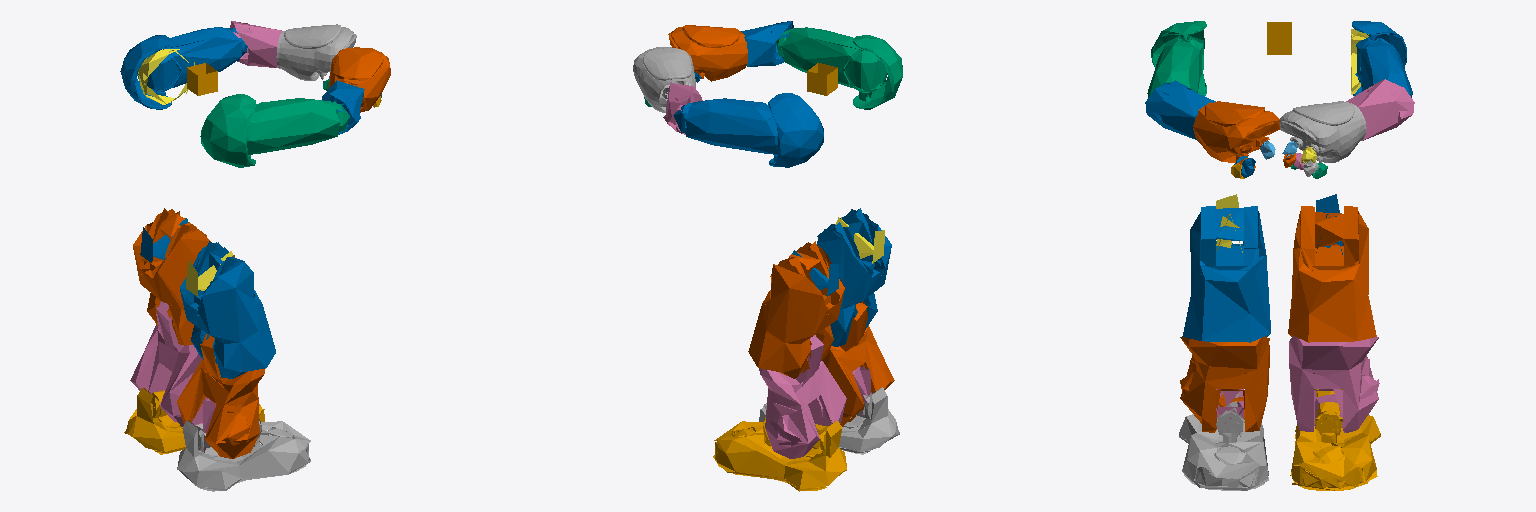
--- Facts derived from the render (not from the file) ---
Views: 3 orthographic renders of the robot side by side, from view 1: azimuth 30°, elevation 25°; view 2: azimuth 150°, elevation 25°; view 3: azimuth 270°, elevation 25°.
Robot: NaoH25V50 — 79 links, 78 joints (26 revolute, 16 continuous, 36 fixed); root link base_link; default pose: all joints at 0 but 2 set to mid-range because 0 is outside their limits (LElbowRoll = -0.7898, RElbowRoll = 0.7898).
Links seen in each view (by area): view 1: RThigh, RBicep, r_ankle, RTibia, LBicep, LThigh, LTibia, l_wrist, l_ankle, r_wrist, LForeArm, RForeArm (+4 smaller); view 2: LThigh, LBicep, RBicep, LTibia, l_ankle, RThigh, RTibia, r_wrist, l_wrist, r_ankle, RForeArm, LForeArm (+3 smaller); view 3: LThigh, RThigh, LTibia, RTibia, l_ankle, r_ankle, r_wrist, l_wrist, RBicep, LBicep, LForeArm, RForeArm (+1 smaller).
Boxes of the visible links, <box> form: RThigh: <box>180,241,275,378</box>; RBicep: <box>200,94,349,167</box>; r_ankle: <box>177,419,310,491</box>; RTibia: <box>177,334,265,458</box>; LBicep: <box>120,27,247,109</box>; LThigh: <box>133,208,210,345</box>; LTibia: <box>130,301,201,426</box>; l_wrist: <box>276,24,356,80</box>; l_ankle: <box>124,388,264,454</box>; r_wrist: <box>329,47,390,112</box>; LForeArm: <box>230,21,281,67</box>; RForeArm: <box>322,80,364,134</box>; LThigh: <box>748,241,844,378</box>; LBicep: <box>673,93,823,167</box>; RBicep: <box>776,27,902,109</box>; LTibia: <box>759,335,846,458</box>; l_ankle: <box>713,417,846,491</box>; RThigh: <box>817,208,891,346</box>; RTibia: <box>822,301,894,426</box>; r_wrist: <box>668,25,747,81</box>; l_wrist: <box>633,47,695,112</box>; r_ankle: <box>759,387,899,454</box>; RForeArm: <box>741,21,793,66</box>; LForeArm: <box>663,83,702,134</box>; LThigh: <box>1288,206,1376,342</box>; RThigh: <box>1182,206,1270,342</box>; LTibia: <box>1289,336,1379,432</box>; RTibia: <box>1180,336,1269,432</box>; l_ankle: <box>1290,389,1380,490</box>; r_ankle: <box>1179,392,1268,490</box>; r_wrist: <box>1193,101,1279,162</box>; l_wrist: <box>1279,101,1366,162</box>; RBicep: <box>1147,21,1206,97</box>; LBicep: <box>1352,21,1412,97</box>; LForeArm: <box>1346,79,1414,140</box>; RForeArm: <box>1145,80,1215,140</box>.
Bounding box of the posed robot: 0.28 × 0.273 × 0.4751 m (x, y, z).
Meshes: 39 distinct files referenced, 29 mesh visuals loaded (29 binary STL); not drawn: 10 (reference not matched to a file when rendering).

The robot description file, URDF, robot "NaoH25V50":
<?xml version="1.0" ?>
<!-- =================================================================================== -->
<!-- |    This document was autogenerated by xacro from nao_robot.xacro                | -->
<!-- |    EDITING THIS FILE BY HAND IS NOT RECOMMENDED                                 | -->
<!-- =================================================================================== -->
<!--******************************************************************
 ****** File automatically generated by generate_urdf.py script ******
 *********************************************************************-->
<robot name="NaoH25V50" xmlns:xacro="http://www.ros.org/wiki/xacro">
  <joint name="HeadYaw" type="revolute">
    <parent link="torso"/>
    <child link="Neck"/>
    <origin rpy="0 0 0" xyz="0 0 0.1265"/>
    <axis xyz="0 0 1.0"/>
    <limit effort="1.547" lower="-2.08567" upper="2.08567" velocity="8.26797"/>
  </joint>
  <link name="Neck">
    <inertial>
      <mass value="0.07842"/>
      <inertia ixx="1.60324e-05" ixy="1.57e-09" ixz="3.16276e-09" iyy="1.70394e-05" iyz="-5.295e-08" izz="5.53372e-06"/>
      <origin rpy="0 0 0" xyz="-1e-05 0 -0.02742"/>
    </inertial>
    <visual>
      <geometry>
        <mesh filename="package://nao_meshes/meshes/V40/HeadYaw_0.10.stl" scale="0.01 0.01 0.01"/>
      </geometry>
      <origin rpy="0 0 0" xyz="0 0 0"/>
    </visual>
    <collision>
      <geometry>
        <mesh filename="package://nao_meshes/meshes/V40/HeadYaw_0.10.stl" scale="0.01 0.01 0.01"/>
      </geometry>
      <origin rpy="0 0 0" xyz="0 0 0"/>
    </collision>
  </link>
  <joint name="HeadPitch" type="revolute">
    <parent link="Neck"/>
    <child link="Head"/>
    <origin rpy="0 0 0" xyz="0 0 0"/>
    <axis xyz="0 1.0 0"/>
    <limit effort="1.532" lower="-0.671952" upper="0.514872" velocity="7.19407"/>
  </joint>
  <link name="Head">
    <inertial>
      <mass value="0.60533"/>
      <inertia ixx="0.000957766" ixy="8.78814e-06" ixz="5.33702e-06" iyy="0.000816836" iyz="-2.99579e-05" izz="0.000984976"/>
      <origin rpy="0 0 0" xyz="-0.00112 0 0.05258"/>
    </inertial>
    <visual>
      <geometry>
        <mesh filename="package://nao_meshes/meshes/V40/HeadPitch_0.10.stl" scale="0.01 0.01 0.01"/>
      </geometry>
      <origin rpy="0 0 0" xyz="0 0 0"/>
    </visual>
    <collision>
      <geometry>
        <mesh filename="package://nao_meshes/meshes/V40/HeadPitch_0.10.stl" scale="0.01 0.01 0.01"/>
      </geometry>
      <origin rpy="0 0 0" xyz="0 0 0"/>
    </collision>
  </link>
  <joint name="gaze_joint" type="fixed">
    <parent link="Head"/>
    <child link="gaze"/>
    <origin rpy="0 0 0" xyz="0.05871 0 0.06364"/>
  </joint>
  <link name="gaze"/>
  <joint name="LHipYawPitch" type="revolute">
    <parent link="torso"/>
    <child link="LPelvis"/>
    <origin rpy="0 0 0" xyz="0 0.05 -0.085"/>
    <axis xyz="0 0.707106 -0.707106"/>
    <limit effort="3.348" lower="-1.14529" upper="0.740718" velocity="4.16174"/>
  </joint>
  <link name="LPelvis">
    <inertial>
      <mass value="0.06981"/>
      <inertia ixx="2.3407e-05" ixy="1.07922e-06" ixz="-1.76003e-06" iyy="4.76355e-05" iyz="2.76058e-06" izz="4.97021e-05"/>
      <origin rpy="0 0 0" xyz="-0.00781 -0.01114 0.02661"/>
    </inertial>
    <visual>
      <geometry>
        <mesh filename="package://nao_meshes/meshes/V40/LHipYawPitch_0.10.stl" scale="0.01 0.01 0.01"/>
      </geometry>
      <origin rpy="0 0 0" xyz="0 0 0"/>
    </visual>
    <collision>
      <geometry>
        <mesh filename="package://nao_meshes/meshes/V40/LHipYawPitch_0.10.stl" scale="0.01 0.01 0.01"/>
      </geometry>
      <origin rpy="0 0 0" xyz="0 0 0"/>
    </collision>
  </link>
  <joint name="LHipRoll" type="revolute">
    <parent link="LPelvis"/>
    <child link="LHip"/>
    <origin rpy="0 0 0" xyz="0 0 0"/>
    <axis xyz="1.0 0 0"/>
    <limit effort="3.348" lower="-0.379435" upper="0.79046" velocity="4.16174"/>
  </joint>
  <link name="LHip">
    <inertial>
      <mass value="0.14053"/>
      <inertia ixx="2.38445e-05" ixy="-6.53605e-07" ixz="7.12893e-06" iyy="6.08246e-05" iyz="-2.14072e-07" izz="5.43691e-05"/>
      <origin rpy="0 0 0" xyz="-0.01549 0.00029 -0.00515"/>
    </inertial>
    <visual>
      <geometry>
        <mesh filename="package://nao_meshes/meshes/V40/LHipRoll_0.10.stl" scale="0.01 0.01 0.01"/>
      </geometry>
      <origin rpy="0 0 0" xyz="0 0 0"/>
    </visual>
    <collision>
      <geometry>
        <mesh filename="package://nao_meshes/meshes/V40/LHipRoll_0.10.stl" scale="0.01 0.01 0.01"/>
      </geometry>
      <origin rpy="0 0 0" xyz="0 0 0"/>
    </collision>
  </link>
  <joint name="LHipPitch" type="revolute">
    <parent link="LHip"/>
    <child link="LThigh"/>
    <origin rpy="0 0 0" xyz="0 0 0"/>
    <axis xyz="0 1.0 0"/>
    <limit effort="3.023" lower="-1.53589" upper="0.48398" velocity="6.40239"/>
  </joint>
  <link name="LThigh">
    <inertial>
      <mass value="0.38968"/>
      <inertia ixx="0.000509844" ixy="2.11296e-06" ixz="5.64129e-05" iyy="0.000465358" iyz="-7.91029e-06" izz="0.000301098"/>
      <origin rpy="0 0 0" xyz="0.00138 0.00221 -0.05373"/>
    </inertial>
    <visual>
      <geometry>
        <mesh filename="package://nao_meshes/meshes/V40/LHipPitch_0.10.stl" scale="0.01 0.01 0.01"/>
      </geometry>
      <origin rpy="0 0 0" xyz="0 0 0"/>
    </visual>
    <collision>
      <geometry>
        <mesh filename="package://nao_meshes/meshes/V40/LHipPitch_0.10.stl" scale="0.01 0.01 0.01"/>
      </geometry>
      <origin rpy="0 0 0" xyz="0 0 0"/>
    </collision>
  </link>
  <joint name="LKneePitch" type="revolute">
    <parent link="LThigh"/>
    <child link="LTibia"/>
    <origin rpy="0 0 0" xyz="0 0 -0.1"/>
    <axis xyz="0 1.0 0"/>
    <limit effort="3.023" lower="-0.0923279" upper="2.11255" velocity="6.40239"/>
  </joint>
  <link name="LTibia">
    <inertial>
      <mass value="0.30142"/>
      <inertia ixx="0.000446171" ixy="3.70584e-06" ixz="-3.09008e-05" iyy="0.000388084" iyz="6.01953e-06" izz="0.000185516"/>
      <origin rpy="0 0 0" xyz="0.00453 0.00225 -0.04936"/>
    </inertial>
    <visual>
      <geometry>
        <mesh filename="package://nao_meshes/meshes/V40/LKneePitch_0.10.stl" scale="0.01 0.01 0.01"/>
      </geometry>
      <origin rpy="0 0 0" xyz="0 0 0"/>
    </visual>
    <collision>
      <geometry>
        <mesh filename="package://nao_meshes/meshes/V40/LKneePitch_0.10.stl" scale="0.01 0.01 0.01"/>
      </geometry>
      <origin rpy="0 0 0" xyz="0 0 0"/>
    </collision>
  </link>
  <joint name="LAnklePitch" type="revolute">
    <parent link="LTibia"/>
    <child link="LAnklePitch"/>
    <origin rpy="0 0 0" xyz="0 0 -0.1029"/>
    <axis xyz="0 1.0 0"/>
    <limit effort="3.023" lower="-1.18944" upper="0.922581" velocity="6.40239"/>
  </joint>
  <link name="LAnklePitch">
    <inertial>
      <mass value="0.13416"/>
      <inertia ixx="3.22034e-05" ixy="-8.83212e-09" ixz="4.27549e-06" iyy="6.7943e-05" iyz="2.84849e-07" izz="5.48269e-05"/>
      <origin rpy="0 0 0" xyz="0.00045 0.00029 0.00685"/>
    </inertial>
    <visual>
      <geometry>
        <mesh filename="package://nao_meshes/meshes/V40/LAnklePitch_0.10.stl" scale="0.01 0.01 0.01"/>
      </geometry>
      <origin rpy="0 0 0" xyz="0 0 0"/>
    </visual>
    <collision>
      <geometry>
        <mesh filename="package://nao_meshes/meshes/V40/LAnklePitch_0.10.stl" scale="0.01 0.01 0.01"/>
      </geometry>
      <origin rpy="0 0 0" xyz="0 0 0"/>
    </collision>
  </link>
  <joint name="LAnkleRoll" type="revolute">
    <parent link="LAnklePitch"/>
    <child link="l_ankle"/>
    <origin rpy="0 0 0" xyz="0 0 0"/>
    <axis xyz="1.0 0 0"/>
    <limit effort="3.348" lower="-0.397761" upper="0.768992" velocity="4.16174"/>
  </joint>
  <link name="l_ankle">
    <inertial>
      <mass value="0.17184"/>
      <inertia ixx="8.72911e-05" ixy="8.71925e-06" ixz="-2.10563e-06" iyy="0.000353024" iyz="3.73459e-07" izz="0.000412846"/>
      <origin rpy="0 0 0" xyz="0.02542 0.0033 -0.03239"/>
    </inertial>
    <visual>
      <geometry>
        <mesh filename="package://nao_meshes/meshes/V40/LAnkleRoll_0.10.stl" scale="0.01 0.01 0.01"/>
      </geometry>
      <origin rpy="0 0 0" xyz="0 0 0"/>
    </visual>
    <collision>
      <geometry>
        <mesh filename="package://nao_meshes/meshes/V40/LAnkleRoll_0.10.stl" scale="0.01 0.01 0.01"/>
      </geometry>
      <origin rpy="0 0 0" xyz="0 0 0"/>
    </collision>
  </link>
  <joint name="LLeg_effector_fixedjoint" type="fixed">
    <parent link="l_ankle"/>
    <child link="l_sole"/>
    <origin rpy="0 0 0" xyz="0 0 -0.04511"/>
    <axis xyz="0 0 0"/>
  </joint>
  <link name="l_sole"/>
  <joint name="RHipYawPitch" type="revolute">
    <parent link="torso"/>
    <child link="RPelvis"/>
    <origin rpy="0 0 0" xyz="0 -0.05 -0.085"/>
    <axis xyz="0 0.707106 0.707106"/>
    <limit effort="3.348" lower="-1.14529" upper="0.740718" velocity="4.16174"/>
    <mimic joint="LHipYawPitch" multiplier="1.0" offset="0"/>
  </joint>
  <link name="RPelvis">
    <inertial>
      <mass value="0.06981"/>
      <inertia ixx="3.18766e-05" ixy="-1.07152e-06" ixz="-1.77295e-06" iyy="5.18361e-05" iyz="-7.00664e-06" izz="5.39657e-05"/>
      <origin rpy="0 0 0" xyz="-0.00781 0.01114 0.02661"/>
    </inertial>
    <visual>
      <geometry>
        <mesh filename="package://nao_meshes/meshes/V40/RHipYawPitch_0.10.stl" scale="0.01 0.01 0.01"/>
      </geometry>
      <origin rpy="0 0 0" xyz="0 0 0"/>
    </visual>
    <collision>
      <geometry>
        <mesh filename="package://nao_meshes/meshes/V40/RHipYawPitch_0.10.stl" scale="0.01 0.01 0.01"/>
      </geometry>
      <origin rpy="0 0 0" xyz="0 0 0"/>
    </collision>
  </link>
  <joint name="RHipRoll" type="revolute">
    <parent link="RPelvis"/>
    <child link="RHip"/>
    <origin rpy="0 0 0" xyz="0 0 0"/>
    <axis xyz="1.0 0 0"/>
    <limit effort="3.348" lower="-0.79046" upper="0.379435" velocity="4.16174"/>
  </joint>
  <link name="RHip">
    <inertial>
      <mass value="0.14053"/>
      <inertia ixx="2.38475e-05" ixy="6.12085e-07" ixz="7.10235e-06" iyy="6.0824e-05" iyz="2.12392e-07" izz="5.43727e-05"/>
      <origin rpy="0 0 0" xyz="-0.01549 -0.00029 -0.00515"/>
    </inertial>
    <visual>
      <geometry>
        <mesh filename="package://nao_meshes/meshes/V40/RHipRoll_0.10.stl" scale="0.01 0.01 0.01"/>
      </geometry>
      <origin rpy="0 0 0" xyz="0 0 0"/>
    </visual>
    <collision>
      <geometry>
        <mesh filename="package://nao_meshes/meshes/V40/RHipRoll_0.10.stl" scale="0.01 0.01 0.01"/>
      </geometry>
      <origin rpy="0 0 0" xyz="0 0 0"/>
    </collision>
  </link>
  <joint name="RHipPitch" type="revolute">
    <parent link="RHip"/>
    <child link="RThigh"/>
    <origin rpy="0 0 0" xyz="0 0 0"/>
    <axis xyz="0 1.0 0"/>
    <limit effort="3.0226" lower="-1.53589" upper="0.48398" velocity="6.40239"/>
  </joint>
  <link name="RThigh">
    <inertial>
      <mass value="0.38968"/>
      <inertia ixx="0.000510607" ixy="-2.02799e-06" ixz="5.69893e-05" iyy="0.0004665" iyz="7.09563e-06" izz="0.000301333"/>
      <origin rpy="0 0 0" xyz="0.00138 -0.00221 -0.05373"/>
    </inertial>
    <visual>
      <geometry>
        <mesh filename="package://nao_meshes/meshes/V40/RHipPitch_0.10.stl" scale="0.01 0.01 0.01"/>
      </geometry>
      <origin rpy="0 0 0" xyz="0 0 0"/>
    </visual>
    <collision>
      <geometry>
        <mesh filename="package://nao_meshes/meshes/V40/RHipPitch_0.10.stl" scale="0.01 0.01 0.01"/>
      </geometry>
      <origin rpy="0 0 0" xyz="0 0 0"/>
    </collision>
  </link>
  <joint name="RKneePitch" type="revolute">
    <parent link="RThigh"/>
    <child link="RTibia"/>
    <origin rpy="0 0 0" xyz="0 0 -0.1"/>
    <axis xyz="0 1.0 0"/>
    <limit effort="3.0226" lower="-0.0923279" upper="2.11255" velocity="6.40239"/>
  </joint>
  <link name="RTibia">
    <inertial>
      <mass value="0.30142"/>
      <inertia ixx="0.000446921" ixy="-3.96872e-06" ixz="-3.94009e-05" iyy="0.000387711" iyz="-5.00034e-06" izz="0.000183741"/>
      <origin rpy="0 0 0" xyz="0.00453 -0.00225 -0.04936"/>
    </inertial>
    <visual>
      <geometry>
        <mesh filename="package://nao_meshes/meshes/V40/RKneePitch_0.10.stl" scale="0.01 0.01 0.01"/>
      </geometry>
      <origin rpy="0 0 0" xyz="0 0 0"/>
    </visual>
    <collision>
      <geometry>
        <mesh filename="package://nao_meshes/meshes/V40/RKneePitch_0.10.stl" scale="0.01 0.01 0.01"/>
      </geometry>
      <origin rpy="0 0 0" xyz="0 0 0"/>
    </collision>
  </link>
  <joint name="RAnklePitch" type="revolute">
    <parent link="RTibia"/>
    <child link="RAnklePitch"/>
    <origin rpy="0 0 0" xyz="0 0 -0.1029"/>
    <axis xyz="0 1.0 0"/>
    <limit effort="3.0226" lower="-1.1863" upper="0.932006" velocity="6.40239"/>
  </joint>
  <link name="RAnklePitch">
    <inertial>
      <mass value="0.13416"/>
      <inertia ixx="3.22017e-05" ixy="4.68321e-08" ixz="4.28821e-06" iyy="6.79885e-05" iyz="-2.71089e-07" izz="5.48747e-05"/>
      <origin rpy="0 0 0" xyz="0.00045 -0.00029 0.00685"/>
    </inertial>
    <visual>
      <geometry>
        <mesh filename="package://nao_meshes/meshes/V40/RAnklePitch_0.10.stl" scale="0.01 0.01 0.01"/>
      </geometry>
      <origin rpy="0 0 0" xyz="0 0 0"/>
    </visual>
    <collision>
      <geometry>
        <mesh filename="package://nao_meshes/meshes/V40/RAnklePitch_0.10.stl" scale="0.01 0.01 0.01"/>
      </geometry>
      <origin rpy="0 0 0" xyz="0 0 0"/>
    </collision>
  </link>
  <joint name="RAnkleRoll" type="revolute">
    <parent link="RAnklePitch"/>
    <child link="r_ankle"/>
    <origin rpy="0 0 0" xyz="0 0 0"/>
    <axis xyz="1.0 0 0"/>
    <limit effort="3.348" lower="-0.768992" upper="0.397761" velocity="4.16174"/>
  </joint>
  <link name="r_ankle">
    <inertial>
      <mass value="0.17184"/>
      <inertia ixx="8.71513e-05" ixy="-8.53992e-06" ixz="-2.35184e-06" iyy="0.000352156" iyz="-4.81708e-07" izz="0.000412125"/>
      <origin rpy="0 0 0" xyz="0.02542 -0.0033 -0.03239"/>
    </inertial>
    <visual>
      <geometry>
        <mesh filename="package://nao_meshes/meshes/V40/RAnkleRoll_0.10.stl" scale="0.01 0.01 0.01"/>
      </geometry>
      <origin rpy="0 0 0" xyz="0 0 0"/>
    </visual>
    <collision>
      <geometry>
        <mesh filename="package://nao_meshes/meshes/V40/RAnkleRoll_0.10.stl" scale="0.01 0.01 0.01"/>
      </geometry>
      <origin rpy="0 0 0" xyz="0 0 0"/>
    </collision>
  </link>
  <joint name="RLeg_effector_fixedjoint" type="fixed">
    <parent link="r_ankle"/>
    <child link="r_sole"/>
    <origin rpy="0 0 0" xyz="0 0 -0.04511"/>
    <axis xyz="0 0 0"/>
  </joint>
  <link name="r_sole"/>
  <link name="base_link"/>
  <joint name="base_link_fixedjoint" type="fixed">
    <parent link="base_link"/>
    <child link="torso"/>
    <origin rpy="0 0 0" xyz="0 0 0"/>
    <axis xyz="0 0 0"/>
  </joint>
  <link name="torso">
    <inertial>
      <mass value="1.04956"/>
      <inertia ixx="0.00308361" ixy="1.43116e-05" ixz="-3.30211e-05" iyy="0.0028835" iyz="-2.70793e-05" izz="0.0015924"/>
      <origin rpy="0 0 0" xyz="-0.00413 0 0.04342"/>
    </inertial>
    <visual>
      <geometry>
        <mesh filename="package://nao_meshes/meshes/V40/Torso_0.10.stl" scale="0.01 0.01 0.01"/>
      </geometry>
      <origin rpy="0 0 0" xyz="0 0 0"/>
    </visual>
    <collision>
      <geometry>
        <mesh filename="package://nao_meshes/meshes/V40/Torso_0.10.stl" scale="0.01 0.01 0.01"/>
      </geometry>
      <origin rpy="0 0 0" xyz="0 0 0"/>
    </collision>
  </link>
  <joint name="LShoulderPitch" type="revolute">
    <parent link="torso"/>
    <child link="LShoulder"/>
    <origin rpy="0 0 0" xyz="0 0.098 0.1"/>
    <axis xyz="0 1.0 0"/>
    <limit effort="1.329" lower="-2.08567" upper="2.08567" velocity="8.26797"/>
  </joint>
  <link name="LShoulder">
    <inertial>
      <mass value="0.09304"/>
      <inertia ixx="1.83025e-05" ixy="2.06011e-06" ixz="1.88776e-09" iyy="1.39005e-05" iyz="-3.66592e-07" izz="2.01862e-05"/>
      <origin rpy="0 0 0" xyz="-0.00165 -0.02663 0.00014"/>
    </inertial>
    <visual>
      <geometry>
        <mesh filename="package://nao_meshes/meshes/V40/LShoulderPitch_0.10.stl" scale="0.01 0.01 0.01"/>
      </geometry>
      <origin rpy="0 0 0" xyz="0 0 0"/>
    </visual>
    <collision>
      <geometry>
        <mesh filename="package://nao_meshes/meshes/V40/LShoulderPitch_0.10.stl" scale="0.01 0.01 0.01"/>
      </geometry>
      <origin rpy="0 0 0" xyz="0 0 0"/>
    </collision>
  </link>
  <joint name="LShoulderRoll" type="revolute">
    <parent link="LShoulder"/>
    <child link="LBicep"/>
    <origin rpy="0 0 0" xyz="0 0 0"/>
    <axis xyz="0 0 1.0"/>
    <limit effort="1.7835" lower="-0.314159" upper="1.32645" velocity="7.19407"/>
  </joint>
  <link name="LBicep">
    <inertial>
      <mass value="0.15777"/>
      <inertia ixx="8.7181e-05" ixy="-2.53381e-05" ixz="-1.4213e-05" iyy="0.000274712" iyz="4.71439e-07" izz="0.000241812"/>
      <origin rpy="0 0 0" xyz="0.02455 0.00563 0.0033"/>
    </inertial>
    <visual>
      <geometry>
        <mesh filename="package://nao_meshes/meshes/V40/LShoulderRoll_0.10.stl" scale="0.01 0.01 0.01"/>
      </geometry>
      <origin rpy="0 0 0" xyz="0 0 0"/>
    </visual>
    <collision>
      <geometry>
        <mesh filename="package://nao_meshes/meshes/V40/LShoulderRoll_0.10.stl" scale="0.01 0.01 0.01"/>
      </geometry>
      <origin rpy="0 0 0" xyz="0 0 0"/>
    </collision>
  </link>
  <joint name="LElbowYaw" type="revolute">
    <parent link="LBicep"/>
    <child link="LElbow"/>
    <origin rpy="0 0 0" xyz="0.105 0.015 0"/>
    <axis xyz="1.0 0 0"/>
    <limit effort="1.547" lower="-2.08567" upper="2.08567" velocity="8.26797"/>
  </joint>
  <link name="LElbow">
    <inertial>
      <mass value="0.06483"/>
      <inertia ixx="5.59588e-06" ixy="4.21e-09" ixz="2.92241e-07" iyy="2.66179e-05" iyz="-1.84e-09" izz="2.76294e-05"/>
      <origin rpy="0 0 0" xyz="-0.02744 0 -0.00014"/>
    </inertial>
  </link>
  <joint name="LElbowRoll" type="revolute">
    <parent link="LElbow"/>
    <child link="LForeArm"/>
    <origin rpy="0 0 0" xyz="0 0 0"/>
    <axis xyz="0 0 1.0"/>
    <limit effort="1.532" lower="-1.54462" upper="-0.0349066" velocity="7.19407"/>
  </joint>
  <link name="LForeArm">
    <inertial>
      <mass value="0.07761"/>
      <inertia ixx="2.46746e-05" ixy="3.23152e-06" ixz="1.58221e-06" iyy="3.83837e-05" iyz="1.39194e-07" izz="3.59708e-05"/>
      <origin rpy="0 0 0" xyz="0.02556 0.00281 0.00076"/>
    </inertial>
    <visual>
      <geometry>
        <mesh filename="package://nao_meshes/meshes/V40/LElbowRoll_0.10.stl" scale="0.01 0.01 0.01"/>
      </geometry>
      <origin rpy="0 0 0" xyz="0 0 0"/>
    </visual>
    <collision>
      <geometry>
        <mesh filename="package://nao_meshes/meshes/V40/LElbowRoll_0.10.stl" scale="0.01 0.01 0.01"/>
      </geometry>
      <origin rpy="0 0 0" xyz="0 0 0"/>
    </collision>
  </link>
  <joint name="LWristYaw" type="revolute">
    <parent link="LForeArm"/>
    <child link="l_wrist"/>
    <origin rpy="0 0 0" xyz="0.05595 0 0"/>
    <axis xyz="1.0 0 0"/>
    <limit effort="0.4075" lower="-1.82387" upper="1.82387" velocity="24.6229"/>
  </joint>
  <link name="l_wrist">
    <inertial>
      <mass value="0.18533"/>
      <inertia ixx="6.86477e-05" ixy="1.15465e-07" ixz="-2.87254e-06" iyy="0.000135756" iyz="2.67539e-06" izz="0.000133228"/>
      <origin rpy="0 0 0" xyz="0.03434 -0.00088 0.00308"/>
    </inertial>
    <visual>
      <geometry>
        <mesh filename="package://nao_meshes/meshes/V40/LWristYaw_0.10.stl" scale="0.01 0.01 0.01"/>
      </geometry>
      <origin rpy="0 0 0" xyz="0 0 0"/>
    </visual>
    <collision>
      <geometry>
        <mesh filename="package://nao_meshes/meshes/V40/LWristYaw_0.10.stl" scale="0.01 0.01 0.01"/>
      </geometry>
      <origin rpy="0 0 0" xyz="0 0 0"/>
    </collision>
  </link>
  <joint name="LHand" type="revolute">
    <parent link="l_wrist"/>
    <child link="l_gripper"/>
    <origin rpy="0 0 0" xyz="0.05775 0 -0.01231"/>
    <axis xyz="1.0 0 0"/>
    <limit effort="0.292" lower="0" upper="1.0" velocity="8.33"/>
  </joint>
  <link name="l_gripper">
    <inertial>
      <mass value="2e-06"/>
      <inertia ixx="1.1e-09" ixy="0" ixz="0" iyy="1.1e-09" iyz="0" izz="1.1e-09"/>
    </inertial>
  </link>
  <joint name="RShoulderPitch" type="revolute">
    <parent link="torso"/>
    <child link="RShoulder"/>
    <origin rpy="0 0 0" xyz="0 -0.098 0.1"/>
    <axis xyz="0 1.0 0"/>
    <limit effort="1.329" lower="-2.08567" upper="2.08567" velocity="8.26797"/>
  </joint>
  <link name="RShoulder">
    <inertial>
      <mass value="0.09304"/>
      <inertia ixx="1.83025e-05" ixy="-2.06011e-06" ixz="1.88776e-09" iyy="1.39005e-05" iyz="3.66592e-07" izz="2.01862e-05"/>
      <origin rpy="0 0 0" xyz="-0.00165 0.02663 0.00014"/>
    </inertial>
    <visual>
      <geometry>
        <mesh filename="package://nao_meshes/meshes/V40/RShoulderPitch_0.10.stl" scale="0.01 0.01 0.01"/>
      </geometry>
      <origin rpy="0 0 0" xyz="0 0 0"/>
    </visual>
    <collision>
      <geometry>
        <mesh filename="package://nao_meshes/meshes/V40/RShoulderPitch_0.10.stl" scale="0.01 0.01 0.01"/>
      </geometry>
      <origin rpy="0 0 0" xyz="0 0 0"/>
    </collision>
  </link>
  <joint name="RShoulderRoll" type="revolute">
    <parent link="RShoulder"/>
    <child link="RBicep"/>
    <origin rpy="0 0 0" xyz="0 0 0"/>
    <axis xyz="0 0 1.0"/>
    <limit effort="1.783" lower="-1.32645" upper="0.314159" velocity="7.19407"/>
  </joint>
  <link name="RBicep">
    <inertial>
      <mass value="0.15777"/>
      <inertia ixx="0.000103401" ixy="5.48849e-05" ixz="-1.32643e-05" iyy="0.00027077" iyz="9.16707e-06" izz="0.000254529"/>
      <origin rpy="0 0 0" xyz="0.02455 -0.00563 0.0033"/>
    </inertial>
    <visual>
      <geometry>
        <mesh filename="package://nao_meshes/meshes/V40/RShoulderRoll_0.10.stl" scale="0.01 0.01 0.01"/>
      </geometry>
      <origin rpy="0 0 0" xyz="0 0 0"/>
    </visual>
    <collision>
      <geometry>
        <mesh filename="package://nao_meshes/meshes/V40/RShoulderRoll_0.10.stl" scale="0.01 0.01 0.01"/>
      </geometry>
      <origin rpy="0 0 0" xyz="0 0 0"/>
    </collision>
  </link>
  <joint name="RElbowYaw" type="revolute">
    <parent link="RBicep"/>
    <child link="RElbow"/>
    <origin rpy="0 0 0" xyz="0.105 -0.015 0"/>
    <axis xyz="1.0 0 0"/>
    <limit effort="1.547" lower="-2.08567" upper="2.08567" velocity="8.26797"/>
  </joint>
  <link name="RElbow">
    <inertial>
      <mass value="0.06483"/>
      <inertia ixx="5.59588e-06" ixy="4.21e-09" ixz="2.92241e-07" iyy="2.66179e-05" iyz="-1.84e-09" izz="2.76294e-05"/>
      <origin rpy="0 0 0" xyz="-0.02744 0 -0.00014"/>
    </inertial>
  </link>
  <joint name="RElbowRoll" type="revolute">
    <parent link="RElbow"/>
    <child link="RForeArm"/>
    <origin rpy="0 0 0" xyz="0 0 0"/>
    <axis xyz="0 0 1.0"/>
    <limit effort="1.532" lower="0.0349066" upper="1.54462" velocity="7.19407"/>
  </joint>
  <link name="RForeArm">
    <inertial>
      <mass value="0.07761"/>
      <inertia ixx="2.47331e-05" ixy="-3.2418e-06" ixz="9.06451e-07" iyy="3.84719e-05" iyz="-1.38804e-07" izz="3.59319e-05"/>
      <origin rpy="0 0 0" xyz="0.02556 -0.00281 0.00076"/>
    </inertial>
    <visual>
      <geometry>
        <mesh filename="package://nao_meshes/meshes/V40/RElbowRoll_0.10.stl" scale="0.01 0.01 0.01"/>
      </geometry>
      <origin rpy="0 0 0" xyz="0 0 0"/>
    </visual>
    <collision>
      <geometry>
        <mesh filename="package://nao_meshes/meshes/V40/RElbowRoll_0.10.stl" scale="0.01 0.01 0.01"/>
      </geometry>
      <origin rpy="0 0 0" xyz="0 0 0"/>
    </collision>
  </link>
  <joint name="RWristYaw" type="revolute">
    <parent link="RForeArm"/>
    <child link="r_wrist"/>
    <origin rpy="0 0 0" xyz="0.05595 0 0"/>
    <axis xyz="1.0 0 0"/>
    <limit effort="0.4075" lower="-1.82387" upper="1.82387" velocity="24.6229"/>
  </joint>
  <link name="r_wrist">
    <inertial>
      <mass value="0.18533"/>
      <inertia ixx="6.86477e-05" ixy="1.13165e-05" ixz="-2.87254e-06" iyy="0.000135756" iyz="3.68003e-06" izz="0.000133228"/>
      <origin rpy="0 0 0" xyz="0.03434 0.00088 0.00308"/>
    </inertial>
    <visual>
      <geometry>
        <mesh filename="package://nao_meshes/meshes/V40/RWristYaw_0.10.stl" scale="0.01 0.01 0.01"/>
      </geometry>
      <origin rpy="0 0 0" xyz="0 0 0"/>
    </visual>
    <collision>
      <geometry>
        <mesh filename="package://nao_meshes/meshes/V40/RWristYaw_0.10.stl" scale="0.01 0.01 0.01"/>
      </geometry>
      <origin rpy="0 0 0" xyz="0 0 0"/>
    </collision>
  </link>
  <joint name="RHand" type="revolute">
    <parent link="r_wrist"/>
    <child link="r_gripper"/>
    <origin rpy="0 0 0" xyz="0.05775 0 -0.01213"/>
    <axis xyz="1.0 0 0"/>
    <limit effort="0.292" lower="0" upper="1.0" velocity="8.33"/>
  </joint>
  <link name="r_gripper">
    <inertial>
      <mass value="2e-06"/>
      <inertia ixx="1.1e-09" ixy="0" ixz="0" iyy="1.1e-09" iyz="0" izz="1.1e-09"/>
    </inertial>
  </link>
  <link name="LFootBumperRight_frame"/>
  <joint name="LFoot/Bumper/Right_sensor_fixedjoint" type="fixed">
    <parent link="l_ankle"/>
    <child link="LFootBumperRight_frame"/>
    <origin rpy="0 0 0" xyz="0.0876 -0.014 -0.0353"/>
    <axis xyz="0 0 0"/>
  </joint>
  <link name="RFsrRL_frame">
    <collision>
      <geometry>
        <box size="0.01 0.01 0.005"/>
      </geometry>
      <origin rpy="0 0 0" xyz="0 0 0"/>
    </collision>
    <inertial>
      <mass value="2e-06"/>
      <inertia ixx="1.1e-09" ixy="0" ixz="0" iyy="1.1e-09" iyz="0" izz="1.1e-09"/>
    </inertial>
  </link>
  <joint name="RFoot/FSR/RearLeft_sensor_fixedjoint" type="fixed">
    <parent link="r_ankle"/>
    <child link="RFsrRL_frame"/>
    <origin rpy="0 0 0" xyz="-0.03025 0.0191 -0.04511"/>
    <axis xyz="0 0 0"/>
  </joint>
  <link name="CameraBottom_optical_frame"/>
  <joint name="CameraBottom_optical_frame_fixedjoint" type="fixed">
    <parent link="CameraBottom_frame"/>
    <child link="CameraBottom_optical_frame"/>
    <origin rpy="-1.57079632679 0 -1.57079632679" xyz="0 0 0"/>
  </joint>
  <link name="RFsrRR_frame">
    <collision>
      <geometry>
        <box size="0.01 0.01 0.005"/>
      </geometry>
      <origin rpy="0 0 0" xyz="0 0 0"/>
    </collision>
    <inertial>
      <mass value="2e-06"/>
      <inertia ixx="1.1e-09" ixy="0" ixz="0" iyy="1.1e-09" iyz="0" izz="1.1e-09"/>
    </inertial>
  </link>
  <joint name="RFoot/FSR/RearRight_sensor_fixedjoint" type="fixed">
    <parent link="r_ankle"/>
    <child link="RFsrRR_frame"/>
    <origin rpy="0 0 0" xyz="-0.02965 -0.0299 -0.04511"/>
    <axis xyz="0 0 0"/>
  </joint>
  <link name="LFsrFR_frame">
    <collision>
      <geometry>
        <box size="0.01 0.01 0.005"/>
      </geometry>
      <origin rpy="0 0 0" xyz="0 0 0"/>
    </collision>
    <inertial>
      <mass value="2e-06"/>
      <inertia ixx="1.1e-09" ixy="0" ixz="0" iyy="1.1e-09" iyz="0" izz="1.1e-09"/>
    </inertial>
  </link>
  <joint name="LFoot/FSR/FrontRight_sensor_fixedjoint" type="fixed">
    <parent link="l_ankle"/>
    <child link="LFsrFR_frame"/>
    <origin rpy="0 0 0" xyz="0.07025 -0.0231 -0.04511"/>
    <axis xyz="0 0 0"/>
  </joint>
  <link name="LHandTouchLeft_frame"/>
  <joint name="LHand/Touch/Left_sensor_fixedjoint" type="fixed">
    <parent link="l_wrist"/>
    <child link="LHandTouchLeft_frame"/>
    <origin rpy="0 0 1.5708" xyz="0.032 0.025 0.003"/>
    <axis xyz="0 0 0"/>
  </joint>
  <link name="RFootBumperRight_frame"/>
  <joint name="RFoot/Bumper/Right_sensor_fixedjoint" type="fixed">
    <parent link="r_ankle"/>
    <child link="RFootBumperRight_frame"/>
    <origin rpy="0 0 0" xyz="0.0876 -0.019 -0.0353"/>
    <axis xyz="0 0 0"/>
  </joint>
  <link name="RFsrFR_frame">
    <collision>
      <geometry>
        <box size="0.01 0.01 0.005"/>
      </geometry>
      <origin rpy="0 0 0" xyz="0 0 0"/>
    </collision>
    <inertial>
      <mass value="2e-06"/>
      <inertia ixx="1.1e-09" ixy="0" ixz="0" iyy="1.1e-09" iyz="0" izz="1.1e-09"/>
    </inertial>
  </link>
  <joint name="RFoot/FSR/FrontRight_sensor_fixedjoint" type="fixed">
    <parent link="r_ankle"/>
    <child link="RFsrFR_frame"/>
    <origin rpy="0 0 0" xyz="0.07025 -0.0299 -0.04511"/>
    <axis xyz="0 0 0"/>
  </joint>
  <link name="LFsrRR_frame">
    <collision>
      <geometry>
        <box size="0.01 0.01 0.005"/>
      </geometry>
      <origin rpy="0 0 0" xyz="0 0 0"/>
    </collision>
    <inertial>
      <mass value="2e-06"/>
      <inertia ixx="1.1e-09" ixy="0" ixz="0" iyy="1.1e-09" iyz="0" izz="1.1e-09"/>
    </inertial>
  </link>
  <joint name="LFoot/FSR/RearRight_sensor_fixedjoint" type="fixed">
    <parent link="l_ankle"/>
    <child link="LFsrRR_frame"/>
    <origin rpy="0 0 0" xyz="-0.02965 -0.0191 -0.04511"/>
    <axis xyz="0 0 0"/>
  </joint>
  <link name="ImuTorsoAccelerometer_frame"/>
  <joint name="Accelerometer_sensor_fixedjoint" type="fixed">
    <parent link="torso"/>
    <child link="ImuTorsoAccelerometer_frame"/>
    <origin rpy="0 0 0" xyz="-0.008 0.00606 0.027"/>
    <axis xyz="0 0 0"/>
  </joint>
  <link name="HeadTouchFront_frame"/>
  <joint name="Head/Touch/Front_sensor_fixedjoint" type="fixed">
    <parent link="Head"/>
    <child link="HeadTouchFront_frame"/>
    <origin rpy="0 -1.1861 0" xyz="0.0312 0 0.1014"/>
    <axis xyz="0 0 0"/>
  </joint>
  <link name="RFootBumperLeft_frame"/>
  <joint name="RFoot/Bumper/Left_sensor_fixedjoint" type="fixed">
    <parent link="r_ankle"/>
    <child link="RFootBumperLeft_frame"/>
    <origin rpy="0 0 0" xyz="0.0876 0.014 -0.0353"/>
    <axis xyz="0 0 0"/>
  </joint>
  <link name="RSonar_frame"/>
  <joint name="Sonar/Right_sensor_fixedjoint" type="fixed">
    <parent link="torso"/>
    <child link="RSonar_frame"/>
    <origin rpy="0.00478508 0.0436497 -0.392441" xyz="0.00558253 -0.0192068 0.0623853"/>
    <axis xyz="0 0 0"/>
  </joint>
  <link name="RHandTouchRight_frame"/>
  <joint name="RHand/Touch/Right_sensor_fixedjoint" type="fixed">
    <parent link="r_wrist"/>
    <child link="RHandTouchRight_frame"/>
    <origin rpy="0 0 -1.5708" xyz="0.035 -0.025 0.0035"/>
    <axis xyz="0 0 0"/>
  </joint>
  <link name="RHandTouchBack_frame"/>
  <joint name="RHand/Touch/Back_sensor_fixedjoint" type="fixed">
    <parent link="r_wrist"/>
    <child link="RHandTouchBack_frame"/>
    <origin rpy="3.14159 -1.5708 3.14159" xyz="0.038 0 0.025"/>
    <axis xyz="0 0 0"/>
  </joint>
  <link name="RFsrFL_frame">
    <collision>
      <geometry>
        <box size="0.01 0.01 0.005"/>
      </geometry>
      <origin rpy="0 0 0" xyz="0 0 0"/>
    </collision>
    <inertial>
      <mass value="2e-06"/>
      <inertia ixx="1.1e-09" ixy="0" ixz="0" iyy="1.1e-09" iyz="0" izz="1.1e-09"/>
    </inertial>
  </link>
  <joint name="RFoot/FSR/FrontLeft_sensor_fixedjoint" type="fixed">
    <parent link="r_ankle"/>
    <child link="RFsrFL_frame"/>
    <origin rpy="0 0 0" xyz="0.07025 0.0231 -0.04511"/>
    <axis xyz="0 0 0"/>
  </joint>
  <link name="LSonar_frame"/>
  <joint name="Sonar/Left_sensor_fixedjoint" type="fixed">
    <parent link="torso"/>
    <child link="LSonar_frame"/>
    <origin rpy="-0.00478508 0.0436497 0.392441" xyz="0.00558253 0.0192068 0.0623853"/>
    <axis xyz="0 0 0"/>
  </joint>
  <link name="LFsrFL_frame">
    <collision>
      <geometry>
        <box size="0.01 0.01 0.005"/>
      </geometry>
      <origin rpy="0 0 0" xyz="0 0 0"/>
    </collision>
    <inertial>
      <mass value="2e-06"/>
      <inertia ixx="1.1e-09" ixy="0" ixz="0" iyy="1.1e-09" iyz="0" izz="1.1e-09"/>
    </inertial>
  </link>
  <joint name="LFoot/FSR/FrontLeft_sensor_fixedjoint" type="fixed">
    <parent link="l_ankle"/>
    <child link="LFsrFL_frame"/>
    <origin rpy="0 0 0" xyz="0.07025 0.0299 -0.04511"/>
    <axis xyz="0 0 0"/>
  </joint>
  <link name="LFsrRL_frame">
    <collision>
      <geometry>
        <box size="0.01 0.01 0.005"/>
      </geometry>
      <origin rpy="0 0 0" xyz="0 0 0"/>
    </collision>
    <inertial>
      <mass value="2e-06"/>
      <inertia ixx="1.1e-09" ixy="0" ixz="0" iyy="1.1e-09" iyz="0" izz="1.1e-09"/>
    </inertial>
  </link>
  <joint name="LFoot/FSR/RearLeft_sensor_fixedjoint" type="fixed">
    <parent link="l_ankle"/>
    <child link="LFsrRL_frame"/>
    <origin rpy="0 0 0" xyz="-0.03025 0.0299 -0.04511"/>
    <axis xyz="0 0 0"/>
  </joint>
  <link name="RHandTouchLeft_frame"/>
  <joint name="RHand/Touch/Left_sensor_fixedjoint" type="fixed">
    <parent link="r_wrist"/>
    <child link="RHandTouchLeft_frame"/>
    <origin rpy="0 0 1.5708" xyz="0.032 0.025 0.003"/>
    <axis xyz="0 0 0"/>
  </joint>
  <link name="CameraBottom_frame"/>
  <joint name="CameraBottom_sensor_fixedjoint" type="fixed">
    <parent link="Head"/>
    <child link="CameraBottom_frame"/>
    <origin rpy="0 0.692896 0" xyz="0.05071 0 0.01774"/>
    <axis xyz="0 0 0"/>
  </joint>
  <link name="CameraTop_frame"/>
  <joint name="CameraTop_sensor_fixedjoint" type="fixed">
    <parent link="Head"/>
    <child link="CameraTop_frame"/>
    <origin rpy="0 0.0209435 0" xyz="0.05871 0 0.06364"/>
    <axis xyz="0 0 0"/>
  </joint>
  <link name="CameraTop_optical_frame"/>
  <joint name="CameraTop_optical_frame_fixedjoint" type="fixed">
    <parent link="CameraTop_frame"/>
    <child link="CameraTop_optical_frame"/>
    <origin rpy="-1.57079632679 0 -1.57079632679" xyz="0 0 0"/>
  </joint>
  <link name="LHandTouchBack_frame"/>
  <joint name="LHand/Touch/Back_sensor_fixedjoint" type="fixed">
    <parent link="l_wrist"/>
    <child link="LHandTouchBack_frame"/>
    <origin rpy="3.14159 -1.5708 3.14159" xyz="0.038 0 0.025"/>
    <axis xyz="0 0 0"/>
  </joint>
  <link name="LInfraRed_frame"/>
  <joint name="InfraredL_sensor_fixedjoint" type="fixed">
    <parent link="Head"/>
    <child link="LInfraRed_frame"/>
    <origin rpy="0 0 0" xyz="0.0441 0.0257 0.0466"/>
    <axis xyz="0 0 0"/>
  </joint>
  <link name="ImuTorsoGyrometer_frame"/>
  <joint name="Gyrometer_sensor_fixedjoint" type="fixed">
    <parent link="torso"/>
    <child link="ImuTorsoGyrometer_frame"/>
    <origin rpy="0 0 0" xyz="-0.008 0.006 0.029"/>
    <axis xyz="0 0 0"/>
  </joint>
  <link name="HeadTouchRear_frame"/>
  <joint name="Head/Touch/Rear_sensor_fixedjoint" type="fixed">
    <parent link="Head"/>
    <child link="HeadTouchRear_frame"/>
    <origin rpy="3.14159 -1.33319 -3.14159" xyz="-0.0257 0 0.1045"/>
    <axis xyz="0 0 0"/>
  </joint>
  <link name="HeadTouchMiddle_frame"/>
  <joint name="Head/Touch/Middle_sensor_fixedjoint" type="fixed">
    <parent link="Head"/>
    <child link="HeadTouchMiddle_frame"/>
    <origin rpy="3.14159 -1.57079 -3.14159" xyz="0.001 0 0.1099"/>
    <axis xyz="0 0 0"/>
  </joint>
  <link name="RInfraRed_frame"/>
  <joint name="InfraredR_sensor_fixedjoint" type="fixed">
    <parent link="Head"/>
    <child link="RInfraRed_frame"/>
    <origin rpy="0 0 0" xyz="0.0441 -0.0257 0.0466"/>
    <axis xyz="0 0 0"/>
  </joint>
  <link name="ChestButton_frame"/>
  <joint name="ChestBoard/Button_sensor_fixedjoint" type="fixed">
    <parent link="torso"/>
    <child link="ChestButton_frame"/>
    <origin rpy="0 0 0" xyz="0.049871 0.001588 0.055163"/>
    <axis xyz="0 0 0"/>
  </joint>
  <link name="LFootBumperLeft_frame"/>
  <joint name="LFoot/Bumper/Left_sensor_fixedjoint" type="fixed">
    <parent link="l_ankle"/>
    <child link="LFootBumperLeft_frame"/>
    <origin rpy="0 0 0" xyz="0.0876 0.019 -0.0353"/>
    <axis xyz="0 0 0"/>
  </joint>
  <link name="LHandTouchRight_frame"/>
  <joint name="LHand/Touch/Right_sensor_fixedjoint" type="fixed">
    <parent link="l_wrist"/>
    <child link="LHandTouchRight_frame"/>
    <origin rpy="0 0 -1.5708" xyz="0.035 -0.025 0.0035"/>
    <axis xyz="0 0 0"/>
  </joint>
  <link name="RFinger13_link">
    <inertial>
      <mass value="2e-06"/>
      <inertia ixx="1.1e-09" ixy="0" ixz="0" iyy="1.1e-09" iyz="0" izz="1.1e-09"/>
    </inertial>
    <visual>
      <geometry>
        <mesh filename="package://nao_meshes/meshes/V40/RFinger13_0.10.stl" scale="0.01 0.01 0.01"/>
      </geometry>
      <origin rpy="0 0 0" xyz="0 0 0"/>
    </visual>
    <collision>
      <geometry>
        <mesh filename="package://nao_meshes/meshes/V40/RFinger13_0.10.stl" scale="0.01 0.01 0.01"/>
      </geometry>
      <origin rpy="0 0 0" xyz="0 0 0"/>
    </collision>
  </link>
  <joint name="RFinger13" type="continuous">
    <parent link="RFinger12_link"/>
    <child link="RFinger13_link"/>
    <origin rpy="0 0 -0.999899" xyz="0.01436 0 0"/>
    <axis xyz="0 0 1.0"/>
    <mimic joint="RHand" multiplier="0.999899" offset="0"/>
  </joint>
  <link name="RFinger12_link">
    <inertial>
      <mass value="2e-06"/>
      <inertia ixx="1.1e-09" ixy="0" ixz="0" iyy="1.1e-09" iyz="0" izz="1.1e-09"/>
    </inertial>
    <visual>
      <geometry>
        <mesh filename="package://nao_meshes/meshes/V40/RFinger12_0.10.stl" scale="0.01 0.01 0.01"/>
      </geometry>
      <origin rpy="0 0 0" xyz="0 0 0"/>
    </visual>
    <collision>
      <geometry>
        <mesh filename="package://nao_meshes/meshes/V40/RFinger12_0.10.stl" scale="0.01 0.01 0.01"/>
      </geometry>
      <origin rpy="0 0 0" xyz="0 0 0"/>
    </collision>
  </link>
  <joint name="RFinger12" type="continuous">
    <parent link="RFinger11_link"/>
    <child link="RFinger12_link"/>
    <origin rpy="0 0 -0.999899" xyz="0.01436 0 0"/>
    <axis xyz="0 0 1.0"/>
    <mimic joint="RHand" multiplier="0.999899" offset="0"/>
  </joint>
  <link name="LFinger21_link">
    <inertial>
      <mass value="2e-06"/>
      <inertia ixx="1.1e-09" ixy="0" ixz="0" iyy="1.1e-09" iyz="0" izz="1.1e-09"/>
    </inertial>
    <visual>
      <geometry>
        <mesh filename="package://nao_meshes/meshes/V40/LFinger21_0.10.stl" scale="0.01 0.01 0.01"/>
      </geometry>
      <origin rpy="0 0 0" xyz="0 0 0"/>
    </visual>
    <collision>
      <geometry>
        <mesh filename="package://nao_meshes/meshes/V40/LFinger21_0.10.stl" scale="0.01 0.01 0.01"/>
      </geometry>
      <origin rpy="0 0 0" xyz="0 0 0"/>
    </collision>
  </link>
  <joint name="LFinger21" type="continuous">
    <parent link="l_wrist"/>
    <child link="LFinger21_link"/>
    <origin rpy="1.25539 0.976662 -0.264067" xyz="0.06907 -0.01157 -0.00304"/>
    <axis xyz="0 0 1.0"/>
    <mimic joint="LHand" multiplier="0.999899" offset="0"/>
  </joint>
  <link name="LFinger13_link">
    <inertial>
      <mass value="2e-06"/>
      <inertia ixx="1.1e-09" ixy="0" ixz="0" iyy="1.1e-09" iyz="0" izz="1.1e-09"/>
    </inertial>
    <visual>
      <geometry>
        <mesh filename="package://nao_meshes/meshes/V40/LFinger13_0.10.stl" scale="0.01 0.01 0.01"/>
      </geometry>
      <origin rpy="0 0 0" xyz="0 0 0"/>
    </visual>
    <collision>
      <geometry>
        <mesh filename="package://nao_meshes/meshes/V40/LFinger13_0.10.stl" scale="0.01 0.01 0.01"/>
      </geometry>
      <origin rpy="0 0 0" xyz="0 0 0"/>
    </collision>
  </link>
  <joint name="LFinger13" type="continuous">
    <parent link="LFinger12_link"/>
    <child link="LFinger13_link"/>
    <origin rpy="0 0 -0.999899" xyz="0.01436 0 0"/>
    <axis xyz="0 0 1.0"/>
    <mimic joint="LHand" multiplier="0.999899" offset="0"/>
  </joint>
  <link name="LFinger11_link">
    <inertial>
      <mass value="2e-06"/>
      <inertia ixx="1.1e-09" ixy="0" ixz="0" iyy="1.1e-09" iyz="0" izz="1.1e-09"/>
    </inertial>
    <visual>
      <geometry>
        <mesh filename="package://nao_meshes/meshes/V40/LFinger11_0.10.stl" scale="0.01 0.01 0.01"/>
      </geometry>
      <origin rpy="0 0 0" xyz="0 0 0"/>
    </visual>
    <collision>
      <geometry>
        <mesh filename="package://nao_meshes/meshes/V40/LFinger11_0.10.stl" scale="0.01 0.01 0.01"/>
      </geometry>
      <origin rpy="0 0 0" xyz="0 0 0"/>
    </collision>
  </link>
  <joint name="LFinger11" type="continuous">
    <parent link="l_wrist"/>
    <child link="LFinger11_link"/>
    <origin rpy="1.8862 0.976662 0.264067" xyz="0.06907 0.01157 -0.00304"/>
    <axis xyz="0 0 1.0"/>
    <mimic joint="LHand" multiplier="0.999899" offset="0"/>
  </joint>
  <link name="RFinger22_link">
    <inertial>
      <mass value="2e-06"/>
      <inertia ixx="1.1e-09" ixy="0" ixz="0" iyy="1.1e-09" iyz="0" izz="1.1e-09"/>
    </inertial>
    <visual>
      <geometry>
        <mesh filename="package://nao_meshes/meshes/V40/RFinger22_0.10.stl" scale="0.01 0.01 0.01"/>
      </geometry>
      <origin rpy="0 0 0" xyz="0 0 0"/>
    </visual>
    <collision>
      <geometry>
        <mesh filename="package://nao_meshes/meshes/V40/RFinger22_0.10.stl" scale="0.01 0.01 0.01"/>
      </geometry>
      <origin rpy="0 0 0" xyz="0 0 0"/>
    </collision>
  </link>
  <joint name="RFinger22" type="continuous">
    <parent link="RFinger21_link"/>
    <child link="RFinger22_link"/>
    <origin rpy="0 0 -0.999899" xyz="0.01436 0 0"/>
    <axis xyz="0 0 1.0"/>
    <mimic joint="RHand" multiplier="0.999899" offset="0"/>
  </joint>
  <link name="LFinger22_link">
    <inertial>
      <mass value="2e-06"/>
      <inertia ixx="1.1e-09" ixy="0" ixz="0" iyy="1.1e-09" iyz="0" izz="1.1e-09"/>
    </inertial>
    <visual>
      <geometry>
        <mesh filename="package://nao_meshes/meshes/V40/LFinger22_0.10.stl" scale="0.01 0.01 0.01"/>
      </geometry>
      <origin rpy="0 0 0" xyz="0 0 0"/>
    </visual>
    <collision>
      <geometry>
        <mesh filename="package://nao_meshes/meshes/V40/LFinger22_0.10.stl" scale="0.01 0.01 0.01"/>
      </geometry>
      <origin rpy="0 0 0" xyz="0 0 0"/>
    </collision>
  </link>
  <joint name="LFinger22" type="continuous">
    <parent link="LFinger21_link"/>
    <child link="LFinger22_link"/>
    <origin rpy="0 0 -0.999899" xyz="0.01436 0 0"/>
    <axis xyz="0 0 1.0"/>
    <mimic joint="LHand" multiplier="0.999899" offset="0"/>
  </joint>
  <link name="RFinger21_link">
    <inertial>
      <mass value="2e-06"/>
      <inertia ixx="1.1e-09" ixy="0" ixz="0" iyy="1.1e-09" iyz="0" izz="1.1e-09"/>
    </inertial>
    <visual>
      <geometry>
        <mesh filename="package://nao_meshes/meshes/V40/RFinger21_0.10.stl" scale="0.01 0.01 0.01"/>
      </geometry>
      <origin rpy="0 0 0" xyz="0 0 0"/>
    </visual>
    <collision>
      <geometry>
        <mesh filename="package://nao_meshes/meshes/V40/RFinger21_0.10.stl" scale="0.01 0.01 0.01"/>
      </geometry>
      <origin rpy="0 0 0" xyz="0 0 0"/>
    </collision>
  </link>
  <joint name="RFinger21" type="continuous">
    <parent link="r_wrist"/>
    <child link="RFinger21_link"/>
    <origin rpy="1.25539 0.976662 -0.264067" xyz="0.06907 -0.01157 -0.00304"/>
    <axis xyz="0 0 1.0"/>
    <mimic joint="RHand" multiplier="0.999899" offset="0"/>
  </joint>
  <link name="LFinger12_link">
    <inertial>
      <mass value="2e-06"/>
      <inertia ixx="1.1e-09" ixy="0" ixz="0" iyy="1.1e-09" iyz="0" izz="1.1e-09"/>
    </inertial>
    <visual>
      <geometry>
        <mesh filename="package://nao_meshes/meshes/V40/LFinger12_0.10.stl" scale="0.01 0.01 0.01"/>
      </geometry>
      <origin rpy="0 0 0" xyz="0 0 0"/>
    </visual>
    <collision>
      <geometry>
        <mesh filename="package://nao_meshes/meshes/V40/LFinger12_0.10.stl" scale="0.01 0.01 0.01"/>
      </geometry>
      <origin rpy="0 0 0" xyz="0 0 0"/>
    </collision>
  </link>
  <joint name="LFinger12" type="continuous">
    <parent link="LFinger11_link"/>
    <child link="LFinger12_link"/>
    <origin rpy="0 0 -0.999899" xyz="0.01436 0 0"/>
    <axis xyz="0 0 1.0"/>
    <mimic joint="LHand" multiplier="0.999899" offset="0"/>
  </joint>
  <link name="RFinger23_link">
    <inertial>
      <mass value="2e-06"/>
      <inertia ixx="1.1e-09" ixy="0" ixz="0" iyy="1.1e-09" iyz="0" izz="1.1e-09"/>
    </inertial>
    <visual>
      <geometry>
        <mesh filename="package://nao_meshes/meshes/V40/RFinger23_0.10.stl" scale="0.01 0.01 0.01"/>
      </geometry>
      <origin rpy="0 0 0" xyz="0 0 0"/>
    </visual>
    <collision>
      <geometry>
        <mesh filename="package://nao_meshes/meshes/V40/RFinger23_0.10.stl" scale="0.01 0.01 0.01"/>
      </geometry>
      <origin rpy="0 0 0" xyz="0 0 0"/>
    </collision>
  </link>
  <joint name="RFinger23" type="continuous">
    <parent link="RFinger22_link"/>
    <child link="RFinger23_link"/>
    <origin rpy="0 0 -0.999899" xyz="0.01436 0 0"/>
    <axis xyz="0 0 1.0"/>
    <mimic joint="RHand" multiplier="0.999899" offset="0"/>
  </joint>
  <link name="RFinger11_link">
    <inertial>
      <mass value="2e-06"/>
      <inertia ixx="1.1e-09" ixy="0" ixz="0" iyy="1.1e-09" iyz="0" izz="1.1e-09"/>
    </inertial>
    <visual>
      <geometry>
        <mesh filename="package://nao_meshes/meshes/V40/RFinger11_0.10.stl" scale="0.01 0.01 0.01"/>
      </geometry>
      <origin rpy="0 0 0" xyz="0 0 0"/>
    </visual>
    <collision>
      <geometry>
        <mesh filename="package://nao_meshes/meshes/V40/RFinger11_0.10.stl" scale="0.01 0.01 0.01"/>
      </geometry>
      <origin rpy="0 0 0" xyz="0 0 0"/>
    </collision>
  </link>
  <joint name="RFinger11" type="continuous">
    <parent link="r_wrist"/>
    <child link="RFinger11_link"/>
    <origin rpy="1.8862 0.976662 0.264067" xyz="0.06907 0.01157 -0.00304"/>
    <axis xyz="0 0 1.0"/>
    <mimic joint="RHand" multiplier="0.999899" offset="0"/>
  </joint>
  <link name="LFinger23_link">
    <inertial>
      <mass value="2e-06"/>
      <inertia ixx="1.1e-09" ixy="0" ixz="0" iyy="1.1e-09" iyz="0" izz="1.1e-09"/>
    </inertial>
    <visual>
      <geometry>
        <mesh filename="package://nao_meshes/meshes/V40/LFinger23_0.10.stl" scale="0.01 0.01 0.01"/>
      </geometry>
      <origin rpy="0 0 0" xyz="0 0 0"/>
    </visual>
    <collision>
      <geometry>
        <mesh filename="package://nao_meshes/meshes/V40/LFinger23_0.10.stl" scale="0.01 0.01 0.01"/>
      </geometry>
      <origin rpy="0 0 0" xyz="0 0 0"/>
    </collision>
  </link>
  <joint name="LFinger23" type="continuous">
    <parent link="LFinger22_link"/>
    <child link="LFinger23_link"/>
    <origin rpy="0 0 -0.999899" xyz="0.01436 0 0"/>
    <axis xyz="0 0 1.0"/>
    <mimic joint="LHand" multiplier="0.999899" offset="0"/>
  </joint>
  <link name="LThumb1_link">
    <inertial>
      <mass value="2e-06"/>
      <inertia ixx="1.1e-09" ixy="0" ixz="0" iyy="1.1e-09" iyz="0" izz="1.1e-09"/>
    </inertial>
    <visual>
      <geometry>
        <mesh filename="package://nao_meshes/meshes/V40/LThumb1_0.10.stl" scale="0.01 0.01 0.01"/>
      </geometry>
      <origin rpy="0 0 0" xyz="0 0 0"/>
    </visual>
    <collision>
      <geometry>
        <mesh filename="package://nao_meshes/meshes/V40/LThumb1_0.10.stl" scale="0.01 0.01 0.01"/>
      </geometry>
      <origin rpy="0 0 0" xyz="0 0 0"/>
    </collision>
  </link>
  <joint name="LThumb1" type="continuous">
    <parent link="l_wrist"/>
    <child link="LThumb1_link"/>
    <origin rpy="-1.5708 0.0472984 -3.26826e-08" xyz="0.04895 0 -0.02638"/>
    <axis xyz="0 0 1.0"/>
    <mimic joint="LHand" multiplier="0.999899" offset="0"/>
  </joint>
  <link name="RThumb1_link">
    <inertial>
      <mass value="2e-06"/>
      <inertia ixx="1.1e-09" ixy="0" ixz="0" iyy="1.1e-09" iyz="0" izz="1.1e-09"/>
    </inertial>
    <visual>
      <geometry>
        <mesh filename="package://nao_meshes/meshes/V40/RThumb1_0.10.stl" scale="0.01 0.01 0.01"/>
      </geometry>
      <origin rpy="0 0 0" xyz="0 0 0"/>
    </visual>
    <collision>
      <geometry>
        <mesh filename="package://nao_meshes/meshes/V40/RThumb1_0.10.stl" scale="0.01 0.01 0.01"/>
      </geometry>
      <origin rpy="0 0 0" xyz="0 0 0"/>
    </collision>
  </link>
  <joint name="RThumb1" type="continuous">
    <parent link="r_wrist"/>
    <child link="RThumb1_link"/>
    <origin rpy="-1.5708 0.0472984 -3.26826e-08" xyz="0.04895 0 -0.02638"/>
    <axis xyz="0 0 1.0"/>
    <mimic joint="RHand" multiplier="0.999899" offset="0"/>
  </joint>
  <link name="RThumb2_link">
    <inertial>
      <mass value="2e-06"/>
      <inertia ixx="1.1e-09" ixy="0" ixz="0" iyy="1.1e-09" iyz="0" izz="1.1e-09"/>
    </inertial>
    <visual>
      <geometry>
        <mesh filename="package://nao_meshes/meshes/V40/RThumb2_0.10.stl" scale="0.01 0.01 0.01"/>
      </geometry>
      <origin rpy="0 0 0" xyz="0 0 0"/>
    </visual>
    <collision>
      <geometry>
        <mesh filename="package://nao_meshes/meshes/V40/RThumb2_0.10.stl" scale="0.01 0.01 0.01"/>
      </geometry>
      <origin rpy="0 0 0" xyz="0 0 0"/>
    </collision>
  </link>
  <joint name="RThumb2" type="continuous">
    <parent link="RThumb1_link"/>
    <child link="RThumb2_link"/>
    <origin rpy="0 0 -0.999899" xyz="0.01436 0 0"/>
    <axis xyz="0 0 1.0"/>
    <mimic joint="RHand" multiplier="0.999899" offset="0"/>
  </joint>
  <link name="LThumb2_link">
    <inertial>
      <mass value="2e-06"/>
      <inertia ixx="1.1e-09" ixy="0" ixz="0" iyy="1.1e-09" iyz="0" izz="1.1e-09"/>
    </inertial>
    <visual>
      <geometry>
        <mesh filename="package://nao_meshes/meshes/V40/LThumb2_0.10.stl" scale="0.01 0.01 0.01"/>
      </geometry>
      <origin rpy="0 0 0" xyz="0 0 0"/>
    </visual>
    <collision>
      <geometry>
        <mesh filename="package://nao_meshes/meshes/V40/LThumb2_0.10.stl" scale="0.01 0.01 0.01"/>
      </geometry>
      <origin rpy="0 0 0" xyz="0 0 0"/>
    </collision>
  </link>
  <joint name="LThumb2" type="continuous">
    <parent link="LThumb1_link"/>
    <child link="LThumb2_link"/>
    <origin rpy="0 0 -0.999899" xyz="0.01436 0 0"/>
    <axis xyz="0 0 1.0"/>
    <mimic joint="LHand" multiplier="0.999899" offset="0"/>
  </joint>
  <!-- GAZEBO ROS CONTROL AND IMU PLUGIN -->
  <gazebo>
    <plugin filename="libgazebo_ros_control.so" name="gazebo_ros_control">
      <robotNamespace>/nao_dcm</robotNamespace>
      <robotSimType>gazebo_ros_control/DefaultRobotHWSim</robotSimType>
    </plugin>
    <!--        <plugin filename="libgazebo_ros_imu.so" name="gazebo_ros_imu_controller">
            <robotNamespace>/nao_dcm</robotNamespace>
            <topicName>imu_data</topicName>
            <bodyName>imu</bodyName>
            <frameId>ImuAccelerometer_frame</frameId>
            <gaussianNoise>2.89e-08</gaussianNoise>
            <accelGaussianNoise>2.89e-08 2.89e-08 2.89e-08</accelGaussianNoise>
            <rateGaussianNoise>2.89e-08 2.89e-08 2.89e-08</rateGaussianNoise>
            <headingGaussianNoise>2.89e-08 2.89e-08 2.89e-08</headingGaussianNoise>
            <xyzOffsets>0 0 0</xyzOffsets>
            <rpyOffsets>0 0 0</rpyOffsets>
            <updateRate>30.0</updateRate>
            <alwaysOn>true</alwaysOn>
        </plugin>
-->
    <!--        <plugin name="gazebo_ros_imu_controller" filename="${imu_plugin}">
            <robotNamespace>/nao_dcm</robotNamespace>
            <topicName>imu_data</topicName>
            <bodyName>imu</bodyName>
            <frameId>imu</frameId>
            <gaussianNoise>2.89e-08</gaussianNoise>
            <accelGaussianNoise>2.89e-08 2.89e-08 2.89e-08</accelGaussianNoise>
            <rateGaussianNoise>2.89e-08 2.89e-08 2.89e-08</rateGaussianNoise>
            <headingGaussianNoise>2.89e-08 2.89e-08 2.89e-08</headingGaussianNoise>
            <xyzOffsets>0 0 0</xyzOffsets>
            <rpyOffsets>0 0 0</rpyOffsets>
            <updateRate>30.0</updateRate>
            <alwaysOn>true</alwaysOn>
        </plugin>
-->
    <!-- Mimic joints through plugin develop by costashatz based on implementation by Goncalo Cabrita -->
    <plugin filename="libroboticsgroup_gazebo_mimic_joint_plugin.so" name="mimic_hipyawpitch">
      <joint>LHipYawPitch</joint>
      <mimicJoint>RHipYawPitch</mimicJoint>
      <multiplier>1.0</multiplier>
      <offset>0.0</offset>
    </plugin>
    <plugin filename="libroboticsgroup_gazebo_mimic_joint_plugin.so" name="mimic_LFinger11">
      <joint>LHand</joint>
      <mimicJoint>LFinger11</mimicJoint>
      <multiplier>-0.785398163398</multiplier>
      <offset>0.785398163398</offset>
    </plugin>
    <plugin filename="libroboticsgroup_gazebo_mimic_joint_plugin.so" name="mimic_LFinger12">
      <joint>LHand</joint>
      <mimicJoint>LFinger12</mimicJoint>
      <multiplier>-0.785398163398</multiplier>
      <offset>0.785398163398</offset>
    </plugin>
    <plugin filename="libroboticsgroup_gazebo_mimic_joint_plugin.so" name="mimic_LFinger13">
      <joint>LHand</joint>
      <mimicJoint>LFinger13</mimicJoint>
      <multiplier>-0.785398163398</multiplier>
      <offset>0.785398163398</offset>
    </plugin>
    <plugin filename="libroboticsgroup_gazebo_mimic_joint_plugin.so" name="mimic_LFinger21">
      <joint>LHand</joint>
      <mimicJoint>LFinger21</mimicJoint>
      <multiplier>-0.785398163398</multiplier>
      <offset>0.785398163398</offset>
    </plugin>
    <plugin filename="libroboticsgroup_gazebo_mimic_joint_plugin.so" name="mimic_LFinger22">
      <joint>LHand</joint>
      <mimicJoint>LFinger22</mimicJoint>
      <multiplier>-0.785398163398</multiplier>
      <offset>0.785398163398</offset>
    </plugin>
    <plugin filename="libroboticsgroup_gazebo_mimic_joint_plugin.so" name="mimic_LFinger23">
      <joint>LHand</joint>
      <mimicJoint>LFinger23</mimicJoint>
      <multiplier>-0.785398163398</multiplier>
      <offset>0.785398163398</offset>
    </plugin>
    <plugin filename="libroboticsgroup_gazebo_mimic_joint_plugin.so" name="mimic_RFinger11">
      <joint>RHand</joint>
      <mimicJoint>RFinger11</mimicJoint>
      <multiplier>-0.785398163398</multiplier>
      <offset>0.785398163398</offset>
    </plugin>
    <plugin filename="libroboticsgroup_gazebo_mimic_joint_plugin.so" name="mimic_RFinger12">
      <joint>RHand</joint>
      <mimicJoint>RFinger12</mimicJoint>
      <multiplier>-0.785398163398</multiplier>
      <offset>0.785398163398</offset>
    </plugin>
    <plugin filename="libroboticsgroup_gazebo_mimic_joint_plugin.so" name="mimic_RFinger13">
      <joint>RHand</joint>
      <mimicJoint>RFinger13</mimicJoint>
      <multiplier>-0.785398163398</multiplier>
      <offset>0.785398163398</offset>
    </plugin>
    <plugin filename="libroboticsgroup_gazebo_mimic_joint_plugin.so" name="mimic_RFinger21">
      <joint>RHand</joint>
      <mimicJoint>RFinger21</mimicJoint>
      <multiplier>-0.785398163398</multiplier>
      <offset>0.785398163398</offset>
    </plugin>
    <plugin filename="libroboticsgroup_gazebo_mimic_joint_plugin.so" name="mimic_RFinger22">
      <joint>RHand</joint>
      <mimicJoint>RFinger22</mimicJoint>
      <multiplier>-0.785398163398</multiplier>
      <offset>0.785398163398</offset>
    </plugin>
    <plugin filename="libroboticsgroup_gazebo_mimic_joint_plugin.so" name="mimic_RFinger23">
      <joint>RHand</joint>
      <mimicJoint>RFinger23</mimicJoint>
      <multiplier>-0.785398163398</multiplier>
      <offset>0.785398163398</offset>
    </plugin>
    <plugin filename="libroboticsgroup_gazebo_mimic_joint_plugin.so" name="LThumb1">
      <joint>LHand</joint>
      <mimicJoint>LThumb1</mimicJoint>
      <multiplier>-0.785398163398</multiplier>
      <offset>0.785398163398</offset>
    </plugin>
    <plugin filename="libroboticsgroup_gazebo_mimic_joint_plugin.so" name="LThumb2">
      <joint>LHand</joint>
      <mimicJoint>LThumb2</mimicJoint>
      <multiplier>-0.785398163398</multiplier>
      <offset>0.785398163398</offset>
    </plugin>
    <plugin filename="libroboticsgroup_gazebo_mimic_joint_plugin.so" name="RThumb1">
      <joint>RHand</joint>
      <mimicJoint>RThumb1</mimicJoint>
      <multiplier>-0.785398163398</multiplier>
      <offset>0.785398163398</offset>
    </plugin>
    <plugin filename="libroboticsgroup_gazebo_mimic_joint_plugin.so" name="RThumb2">
      <joint>RHand</joint>
      <mimicJoint>RThumb2</mimicJoint>
      <multiplier>-0.785398163398</multiplier>
      <offset>0.785398163398</offset>
    </plugin>
    <plugin filename="libroboticsgroup_gazebo_disable_link_plugin.so" name="LFinger11_link">
      <link>LFinger11_link</link>
    </plugin>
    <plugin filename="libroboticsgroup_gazebo_disable_link_plugin.so" name="LFinger12_link">
      <link>LFinger12_link</link>
    </plugin>
    <plugin filename="libroboticsgroup_gazebo_disable_link_plugin.so" name="LFinger13_link">
      <link>LFinger13_link</link>
    </plugin>
    <plugin filename="libroboticsgroup_gazebo_disable_link_plugin.so" name="LFinger21_link">
      <link>LFinger21_link</link>
    </plugin>
    <plugin filename="libroboticsgroup_gazebo_disable_link_plugin.so" name="LFinger22_link">
      <link>LFinger22_link</link>
    </plugin>
    <plugin filename="libroboticsgroup_gazebo_disable_link_plugin.so" name="LFinger23_link">
      <link>LFinger23_link</link>
    </plugin>
    <plugin filename="libroboticsgroup_gazebo_disable_link_plugin.so" name="LThumb1_link">
      <link>LThumb1_link</link>
    </plugin>
    <plugin filename="libroboticsgroup_gazebo_disable_link_plugin.so" name="LThumb2_link">
      <link>LThumb2_link</link>
    </plugin>
    <plugin filename="libroboticsgroup_gazebo_disable_link_plugin.so" name="l_gripper">
      <link>l_gripper</link>
    </plugin>
    <plugin filename="libroboticsgroup_gazebo_disable_link_plugin.so" name="RFinger11_link">
      <link>RFinger11_link</link>
    </plugin>
    <plugin filename="libroboticsgroup_gazebo_disable_link_plugin.so" name="RFinger12_link">
      <link>RFinger12_link</link>
    </plugin>
    <plugin filename="libroboticsgroup_gazebo_disable_link_plugin.so" name="RFinger13_link">
      <link>RFinger13_link</link>
    </plugin>
    <plugin filename="libroboticsgroup_gazebo_disable_link_plugin.so" name="RFinger21_link">
      <link>RFinger21_link</link>
    </plugin>
    <plugin filename="libroboticsgroup_gazebo_disable_link_plugin.so" name="RFinger22_link">
      <link>RFinger22_link</link>
    </plugin>
    <plugin filename="libroboticsgroup_gazebo_disable_link_plugin.so" name="RFinger23_link">
      <link>RFinger23_link</link>
    </plugin>
    <plugin filename="libroboticsgroup_gazebo_disable_link_plugin.so" name="RThumb1_link">
      <link>RThumb1_link</link>
    </plugin>
    <plugin filename="libroboticsgroup_gazebo_disable_link_plugin.so" name="RThumb2_link">
      <link>RThumb2_link</link>
    </plugin>
    <plugin filename="libroboticsgroup_gazebo_disable_link_plugin.so" name="r_gripper">
      <link>r_gripper</link>
    </plugin>
  </gazebo>
  <!-- END OF GAZEBO ROS CONTROL PLUGIN -->
  <!-- GAZEBO MATERIALS -->
  <gazebo reference="torso">
    <mu1>0.5</mu1>
    <mu2>0.5</mu2>
    <selfCollide>false</selfCollide>
    <turnGravityOff>false</turnGravityOff>
  </gazebo>
  <gazebo reference="Neck">
    <mu1>0.5</mu1>
    <mu2>0.5</mu2>
    <selfCollide>false</selfCollide>
    <turnGravityOff>false</turnGravityOff>
  </gazebo>
  <gazebo reference="Head">
    <mu1>0.5</mu1>
    <mu2>0.5</mu2>
    <selfCollide>false</selfCollide>
    <turnGravityOff>false</turnGravityOff>
  </gazebo>
  <gazebo reference="gaze">
    <mu1>0.5</mu1>
    <mu2>0.5</mu2>
    <selfCollide>false</selfCollide>
    <turnGravityOff>false</turnGravityOff>
  </gazebo>
  <!--    <gazebo reference="LShoulderDummy">
        <mu1>0.5</mu1>
        <mu2>0.5</mu2>
        <selfCollide>false</selfCollide>
        <turnGravityOff>false</turnGravityOff>
    </gazebo> 
    <gazebo reference="RShoulderDummy">
        <mu1>0.5</mu1>
        <mu2>0.5</mu2>
        <selfCollide>false</selfCollide>
        <turnGravityOff>false</turnGravityOff>
    </gazebo> -->
  <!-- ARMS -->
  <gazebo reference="LShoulder">
    <mu1>0.5</mu1>
    <mu2>0.5</mu2>
    <selfCollide>false</selfCollide>
    <turnGravityOff>false</turnGravityOff>
  </gazebo>
  <gazebo reference="LBicep">
    <mu1>0.5</mu1>
    <mu2>0.5</mu2>
    <selfCollide>false</selfCollide>
    <turnGravityOff>false</turnGravityOff>
  </gazebo>
  <gazebo reference="LElbow">
    <mu1>0.5</mu1>
    <mu2>0.5</mu2>
    <selfCollide>false</selfCollide>
    <turnGravityOff>false</turnGravityOff>
  </gazebo>
  <gazebo reference="LForeArm">
    <mu1>0.5</mu1>
    <mu2>0.5</mu2>
    <selfCollide>false</selfCollide>
    <turnGravityOff>false</turnGravityOff>
  </gazebo>
  <gazebo reference="l_wrist">
    <mu1>0.5</mu1>
    <mu2>0.5</mu2>
    <selfCollide>false</selfCollide>
    <turnGravityOff>false</turnGravityOff>
  </gazebo>
  <gazebo reference="l_gripper">
    <mu1>0.5</mu1>
    <mu2>0.5</mu2>
    <selfCollide>false</selfCollide>
    <turnGravityOff>true</turnGravityOff>
  </gazebo>
  <gazebo reference="RShoulder">
    <mu1>0.5</mu1>
    <mu2>0.5</mu2>
    <selfCollide>false</selfCollide>
    <turnGravityOff>false</turnGravityOff>
  </gazebo>
  <gazebo reference="RBicep">
    <mu1>0.5</mu1>
    <mu2>0.5</mu2>
    <selfCollide>false</selfCollide>
    <turnGravityOff>false</turnGravityOff>
  </gazebo>
  <gazebo reference="RElbow">
    <mu1>0.5</mu1>
    <mu2>0.5</mu2>
    <selfCollide>false</selfCollide>
    <turnGravityOff>false</turnGravityOff>
  </gazebo>
  <gazebo reference="RForeArm">
    <mu1>0.5</mu1>
    <mu2>0.5</mu2>
    <selfCollide>false</selfCollide>
    <turnGravityOff>false</turnGravityOff>
  </gazebo>
  <gazebo reference="r_wrist">
    <mu1>0.5</mu1>
    <mu2>0.5</mu2>
    <selfCollide>false</selfCollide>
    <turnGravityOff>false</turnGravityOff>
  </gazebo>
  <gazebo reference="r_gripper">
    <mu1>0.5</mu1>
    <mu2>0.5</mu2>
    <selfCollide>false</selfCollide>
    <turnGravityOff>true</turnGravityOff>
  </gazebo>
  <!--    <gazebo reference="LElbowDummy">
        <mu1>0.5</mu1>
        <mu2>0.5</mu2>
        <selfCollide>false</selfCollide>
        <turnGravityOff>false</turnGravityOff>
    </gazebo>
-->
  <gazebo reference="LFinger11_link">
    <mu1>0.5</mu1>
    <mu2>0.5</mu2>
    <selfCollide>false</selfCollide>
    <turnGravityOff>true</turnGravityOff>
  </gazebo>
  <gazebo reference="LFinger12_link">
    <mu1>0.5</mu1>
    <mu2>0.5</mu2>
    <selfCollide>false</selfCollide>
    <turnGravityOff>true</turnGravityOff>
  </gazebo>
  <gazebo reference="LFinger13_link">
    <mu1>0.5</mu1>
    <mu2>0.5</mu2>
    <selfCollide>false</selfCollide>
    <turnGravityOff>true</turnGravityOff>
  </gazebo>
  <gazebo reference="LFinger21_link">
    <mu1>0.5</mu1>
    <mu2>0.5</mu2>
    <selfCollide>false</selfCollide>
    <turnGravityOff>true</turnGravityOff>
  </gazebo>
  <gazebo reference="LFinger22_link">
    <mu1>0.5</mu1>
    <mu2>0.5</mu2>
    <selfCollide>false</selfCollide>
    <turnGravityOff>true</turnGravityOff>
  </gazebo>
  <gazebo reference="LFinger23_link">
    <mu1>0.5</mu1>
    <mu2>0.5</mu2>
    <selfCollide>false</selfCollide>
    <turnGravityOff>true</turnGravityOff>
  </gazebo>
  <gazebo reference="LThumb1_link">
    <mu1>0.5</mu1>
    <mu2>0.5</mu2>
    <selfCollide>false</selfCollide>
    <turnGravityOff>true</turnGravityOff>
  </gazebo>
  <gazebo reference="LThumb2_link">
    <mu1>0.5</mu1>
    <mu2>0.5</mu2>
    <selfCollide>false</selfCollide>
    <turnGravityOff>true</turnGravityOff>
  </gazebo>
  <gazebo reference="LPelvis">
    <mu1>0.5</mu1>
    <mu2>0.5</mu2>
    <selfCollide>false</selfCollide>
    <turnGravityOff>false</turnGravityOff>
  </gazebo>
  <gazebo reference="LHip">
    <mu1>0.5</mu1>
    <mu2>0.5</mu2>
    <selfCollide>false</selfCollide>
    <turnGravityOff>false</turnGravityOff>
  </gazebo>
  <gazebo reference="LThigh">
    <mu1>0.5</mu1>
    <mu2>0.5</mu2>
    <selfCollide>false</selfCollide>
    <turnGravityOff>false</turnGravityOff>
  </gazebo>
  <gazebo reference="LTibia">
    <mu1>0.5</mu1>
    <mu2>0.5</mu2>
    <selfCollide>false</selfCollide>
    <turnGravityOff>false</turnGravityOff>
  </gazebo>
  <gazebo reference="LAnklePitch">
    <mu1>0.5</mu1>
    <mu2>0.5</mu2>
    <selfCollide>false</selfCollide>
    <turnGravityOff>false</turnGravityOff>
  </gazebo>
  <gazebo reference="l_ankle">
    <mu1>0.5</mu1>
    <mu2>0.5</mu2>
    <selfCollide>false</selfCollide>
    <turnGravityOff>false</turnGravityOff>
    <fdir1>1 0 0</fdir1>
    <maxVel>0.1</maxVel>
    <minDepth>0.003</minDepth>
  </gazebo>
  <gazebo reference="RPelvis">
    <mu1>0.5</mu1>
    <mu2>0.5</mu2>
    <selfCollide>false</selfCollide>
    <turnGravityOff>false</turnGravityOff>
  </gazebo>
  <gazebo reference="RHip">
    <mu1>0.5</mu1>
    <mu2>0.5</mu2>
    <selfCollide>false</selfCollide>
    <turnGravityOff>false</turnGravityOff>
  </gazebo>
  <gazebo reference="RThigh">
    <mu1>0.5</mu1>
    <mu2>0.5</mu2>
    <selfCollide>false</selfCollide>
    <turnGravityOff>false</turnGravityOff>
  </gazebo>
  <gazebo reference="RTibia">
    <mu1>0.5</mu1>
    <mu2>0.5</mu2>
    <selfCollide>false</selfCollide>
    <turnGravityOff>false</turnGravityOff>
  </gazebo>
  <gazebo reference="RAnklePitch">
    <mu1>0.5</mu1>
    <mu2>0.5</mu2>
    <selfCollide>false</selfCollide>
    <turnGravityOff>false</turnGravityOff>
  </gazebo>
  <gazebo reference="r_ankle">
    <mu1>0.5</mu1>
    <mu2>0.5</mu2>
    <selfCollide>false</selfCollide>
    <turnGravityOff>false</turnGravityOff>
    <fdir1>1 0 0</fdir1>
    <maxVel>0.1</maxVel>
    <minDepth>0.003</minDepth>
  </gazebo>
  <gazebo reference="RFinger11_link">
    <mu1>0.5</mu1>
    <mu2>0.5</mu2>
    <selfCollide>false</selfCollide>
    <turnGravityOff>true</turnGravityOff>
  </gazebo>
  <gazebo reference="RFinger12_link">
    <mu1>0.5</mu1>
    <mu2>0.5</mu2>
    <selfCollide>false</selfCollide>
    <turnGravityOff>true</turnGravityOff>
  </gazebo>
  <gazebo reference="RFinger13_link">
    <mu1>0.5</mu1>
    <mu2>0.5</mu2>
    <selfCollide>false</selfCollide>
    <turnGravityOff>true</turnGravityOff>
  </gazebo>
  <gazebo reference="RFinger21_link">
    <mu1>0.5</mu1>
    <mu2>0.5</mu2>
    <selfCollide>false</selfCollide>
    <turnGravityOff>true</turnGravityOff>
  </gazebo>
  <gazebo reference="RFinger22_link">
    <mu1>0.5</mu1>
    <mu2>0.5</mu2>
    <selfCollide>false</selfCollide>
    <turnGravityOff>true</turnGravityOff>
  </gazebo>
  <gazebo reference="RFinger23_link">
    <mu1>0.5</mu1>
    <mu2>0.5</mu2>
    <selfCollide>false</selfCollide>
    <turnGravityOff>true</turnGravityOff>
  </gazebo>
  <gazebo reference="RThumb1_link">
    <mu1>0.5</mu1>
    <mu2>0.5</mu2>
    <selfCollide>false</selfCollide>
    <turnGravityOff>true</turnGravityOff>
  </gazebo>
  <gazebo reference="RThumb2_link">
    <mu1>0.5</mu1>
    <mu2>0.5</mu2>
    <selfCollide>false</selfCollide>
    <turnGravityOff>true</turnGravityOff>
  </gazebo>
  <!--

        RGB CAMERAS: Working
-->
  <gazebo reference="CameraTop_frame">
    <sensor name="CameraTop" type="camera">
      <update_rate>5.0</update_rate>
      <camera name="camera_top">
        <horizontal_fov>1.06290551</horizontal_fov>
        <image>
          <width>640</width>
          <height>480</height>
          <format>R8G8B8</format>
        </image>
        <clip>
          <near>0.3</near>
          <far>500</far>
        </clip>
        <noise>
          <type>gaussian</type>
          <mean>0.0</mean>
          <stddev>0.007</stddev>
        </noise>
      </camera>
      <plugin filename="libgazebo_ros_camera.so" name="camera_controller">
        <robotNamespace>nao_robot</robotNamespace>
        <alwaysOn>true</alwaysOn>
        <updateRate>5.0</updateRate>
        <cameraName>camera/top</cameraName>
        <imageTopicName>image_raw</imageTopicName>
        <cameraInfoTopicName>camera_info</cameraInfoTopicName>
        <frameName>CameraTop_optical_frame</frameName>
        <hackBaseline>0.07</hackBaseline>
        <distortionK1>-0.0545211</distortionK1>
        <distortionK2>0.06919734</distortionK2>
        <distortionK3>-0.0241095</distortionK3>
        <distortionT1>-0.0112245</distortionT1>
        <distortionT2>0.0</distortionT2>
      </plugin>
    </sensor>
  </gazebo>
  <gazebo reference="CameraBottom_frame">
    <sensor name="CameraBottom" type="camera">
      <update_rate>5.0</update_rate>
      <camera name="camera_bottom">
        <horizontal_fov>1.06290551</horizontal_fov>
        <image>
          <width>640</width>
          <height>480</height>
          <format>R8G8B8</format>
        </image>
        <clip>
          <near>0.05</near>
          <far>500</far>
        </clip>
        <noise>
          <type>gaussian</type>
          <mean>0.0</mean>
          <stddev>0.007</stddev>
        </noise>
      </camera>
      <plugin filename="libgazebo_ros_camera.so" name="camera_controller">
        <robotNamespace>/nao_robot</robotNamespace>
        <alwaysOn>true</alwaysOn>
        <updateRate>5.0</updateRate>
        <cameraName>camera_bottom</cameraName>
        <imageTopicName>image_raw</imageTopicName>
        <cameraInfoTopicName>camera_info</cameraInfoTopicName>
        <frameName>CameraBottom_optical_frame</frameName>
        <hackBaseline>0.07</hackBaseline>
        <distortionK1>-0.0648764</distortionK1>
        <distortionK2>0.06125202</distortionK2>
        <distortionK3>0.00382815</distortionK3>
        <distortionT1>-0.00551104</distortionT1>
        <distortionT2>0.0</distortionT2>
      </plugin>
    </sensor>
  </gazebo>
  <!--

        CameraDepth : not displayed at the right spot

<gazebo reference="CameraDepth3_frame">
    <sensor type="depth" name="openni_camera_camera2">       
        <always_on>1</always_on>
        <visualize>true</visualize>             
        <camera>
            <horizontal_fov>1.01229</horizontal_fov>  
            <image>
                <width>320</width>
                <height>240</height>
                <format>R8G8B8</format> 
            </image>
            <depth_camera>

            </depth_camera>
            <clip>
                <near>0.1</near>
                <far>100</far>
            </clip>
        </camera>
        <plugin name="depth_cam_controller2" filename="libgazebo_ros_openni_kinect.so"> 
            <baseline>0.2</baseline>
            <alwaysOn>true</alwaysOn>
            <updateRate>0.1</updateRate>
            <cameraName>xtion2</cameraName>
            <imageTopicName>/xtion2/ir/image_raw</imageTopicName>
            <cameraInfoTopicName>/xtion2/ir/camera_info</cameraInfoTopicName>
            <depthImageTopicName>/xtion2/depth/image_raw</depthImageTopicName>
            <depthImageInfoTopicName>/xtion2/depth/camera_info</depthImageInfoTopicName>
            <pointCloudTopicName>/xtion2/depth/points</pointCloudTopicName>
            <frameName>CameraDepth2_frame</frameName>
            <pointCloudCutoff>0.5</pointCloudCutoff>
            <distortionK1>0.00000001</distortionK1>
            <distortionK2>0.00000001</distortionK2>
            <distortionK3>0.00000001</distortionK3>
            <distortionT1>0.00000001</distortionT1>
            <distortionT2>0.00000001</distortionT2>
            <CxPrime>0</CxPrime>
            <Cx>0</Cx>
            <Cy>0</Cy>
            <focalLength>0</focalLength>
            <hackBaseline>0</hackBaseline>
        </plugin>
    </sensor>
</gazebo>
-->
  <!-- 
    BUMPERS + FSR
libgazebo_ros_bumper.so bugged right now, waiting for new release


<gazebo reference="LFootBumper_frame">
  <sensor type="contact" name="LFootBumper">
    <update_rate>10</update_rate>
    <contact>
      <collision>LFootBumper_frame_collision</collision>
    </contact>
    <plugin filename="libgazebo_ros_bumper.so" name="gazebo_nao_ros_bumper">
      <alwaysOn>true</alwaysOn>
      <bumperTopicName>LFootBumper</bumperTopicName>
      <frameName>LFootBumper_frame</frameName>
    </plugin>
  </sensor>
</gazebo>
-->
  <gazebo reference="RFsrFL_frame">
    <mu1>0.5</mu1>
    <mu2>0.5</mu2>
    <selfCollide>false</selfCollide>
    <turnGravityOff>false</turnGravityOff>
    <fdir1>1 0 0</fdir1>
    <maxVel>0.1</maxVel>
    <minDepth>0.003</minDepth>
    <sensor name="RFsrFL" type="contact">
      <always_on>1</always_on>
      <update_rate>20</update_rate>
      <visualize>false</visualize>
      <contact>
        <collision>RFsrFL_frame_collision</collision>
      </contact>
      <plugin filename="libgazebo_ros_bumper.so" name="gazebo_nao_RFsrFL">
        <robotNamespace>nao_robot</robotNamespace>
        <alwaysOn>true</alwaysOn>
        <bumperTopicName>FSR/RFoot/FrontLeft</bumperTopicName>
        <frameName>RFsrFL_frame</frameName>
      </plugin>
    </sensor>
  </gazebo>
  <gazebo reference="RFsrFR_frame">
    <mu1>0.5</mu1>
    <mu2>0.5</mu2>
    <selfCollide>false</selfCollide>
    <turnGravityOff>false</turnGravityOff>
    <fdir1>1 0 0</fdir1>
    <maxVel>0.1</maxVel>
    <minDepth>0.003</minDepth>
    <sensor name="RFsrFR" type="contact">
      <always_on>1</always_on>
      <update_rate>20</update_rate>
      <visualize>false</visualize>
      <contact>
        <collision>RFsrFR_frame_collision</collision>
      </contact>
      <plugin filename="libgazebo_ros_bumper.so" name="gazebo_nao_RFsrFR">
        <robotNamespace>nao_robot</robotNamespace>
        <alwaysOn>true</alwaysOn>
        <bumperTopicName>FSR/RFoot/FrontRight</bumperTopicName>
        <frameName>RFsrFR_frame</frameName>
      </plugin>
    </sensor>
  </gazebo>
  <gazebo reference="RFsrRL_frame">
    <mu1>0.5</mu1>
    <mu2>0.5</mu2>
    <selfCollide>false</selfCollide>
    <turnGravityOff>false</turnGravityOff>
    <fdir1>1 0 0</fdir1>
    <maxVel>0.1</maxVel>
    <minDepth>0.003</minDepth>
    <sensor name="RFsrRL" type="contact">
      <always_on>1</always_on>
      <update_rate>20</update_rate>
      <visualize>false</visualize>
      <contact>
        <collision>RFsrRL_frame_collision</collision>
      </contact>
      <plugin filename="libgazebo_ros_bumper.so" name="gazebo_nao_RFsrRL">
        <robotNamespace>nao_robot</robotNamespace>
        <alwaysOn>true</alwaysOn>
        <bumperTopicName>FSR/RFoot/RearLeft</bumperTopicName>
        <frameName>RFsrRL_frame</frameName>
      </plugin>
    </sensor>
  </gazebo>
  <gazebo reference="RFsrRR_frame">
    <mu1>0.5</mu1>
    <mu2>0.5</mu2>
    <selfCollide>false</selfCollide>
    <turnGravityOff>false</turnGravityOff>
    <fdir1>1 0 0</fdir1>
    <maxVel>0.1</maxVel>
    <minDepth>0.003</minDepth>
    <sensor name="RFsrRR" type="contact">
      <always_on>1</always_on>
      <update_rate>20</update_rate>
      <visualize>false</visualize>
      <contact>
        <collision>RFsrRR_frame_collision</collision>
      </contact>
      <plugin filename="libgazebo_ros_bumper.so" name="gazebo_nao_RFsrRR">
        <robotNamespace>nao_robot</robotNamespace>
        <alwaysOn>true</alwaysOn>
        <bumperTopicName>FSR/RFoot/RearRight</bumperTopicName>
        <frameName>RFsrRR_frame</frameName>
      </plugin>
    </sensor>
  </gazebo>
  <gazebo reference="LFsrFL_frame">
    <mu1>0.5</mu1>
    <mu2>0.5</mu2>
    <selfCollide>false</selfCollide>
    <turnGravityOff>false</turnGravityOff>
    <fdir1>1 0 0</fdir1>
    <maxVel>0.1</maxVel>
    <minDepth>0.003</minDepth>
    <sensor name="LFsrFL" type="contact">
      <always_on>1</always_on>
      <update_rate>20</update_rate>
      <visualize>false</visualize>
      <contact>
        <collision>LFsrFL_frame_collision</collision>
      </contact>
      <plugin filename="libgazebo_ros_bumper.so" name="gazebo_nao_LFsrFL">
        <robotNamespace>nao_robot</robotNamespace>
        <alwaysOn>true</alwaysOn>
        <bumperTopicName>FSR/LFoot/FrontLeft</bumperTopicName>
        <frameName>RFsrFL_frame</frameName>
      </plugin>
    </sensor>
  </gazebo>
  <gazebo reference="LFsrFR_frame">
    <mu1>0.5</mu1>
    <mu2>0.5</mu2>
    <selfCollide>false</selfCollide>
    <turnGravityOff>false</turnGravityOff>
    <fdir1>1 0 0</fdir1>
    <maxVel>0.1</maxVel>
    <minDepth>0.003</minDepth>
    <sensor name="LFsrFR" type="contact">
      <always_on>1</always_on>
      <update_rate>20</update_rate>
      <visualize>false</visualize>
      <contact>
        <collision>LFsrFR_frame_collision</collision>
      </contact>
      <plugin filename="libgazebo_ros_bumper.so" name="gazebo_nao_ros_bumper">
        <robotNamespace>nao_robot</robotNamespace>
        <alwaysOn>true</alwaysOn>
        <bumperTopicName>FSR/LFoot/FrontRight</bumperTopicName>
        <frameName>LFsrFR_frame</frameName>
      </plugin>
    </sensor>
  </gazebo>
  <gazebo reference="LFsrRL_frame">
    <mu1>0.5</mu1>
    <mu2>0.5</mu2>
    <selfCollide>false</selfCollide>
    <turnGravityOff>false</turnGravityOff>
    <fdir1>1 0 0</fdir1>
    <maxVel>0.1</maxVel>
    <minDepth>0.003</minDepth>
    <sensor name="LFsrRL" type="contact">
      <always_on>1</always_on>
      <update_rate>20</update_rate>
      <visualize>false</visualize>
      <contact>
        <collision>LFsrRL_frame_collision</collision>
      </contact>
      <plugin filename="libgazebo_ros_bumper.so" name="gazebo_nao_ros_bumper">
        <robotNamespace>nao_robot</robotNamespace>
        <alwaysOn>true</alwaysOn>
        <bumperTopicName>FSR/LFoot/RearLeft</bumperTopicName>
        <frameName>LFsrRL_frame</frameName>
      </plugin>
    </sensor>
  </gazebo>
  <gazebo reference="LFsrRR_frame">
    <mu1>0.5</mu1>
    <mu2>0.5</mu2>
    <selfCollide>false</selfCollide>
    <turnGravityOff>false</turnGravityOff>
    <fdir1>1 0 0</fdir1>
    <maxVel>0.1</maxVel>
    <minDepth>0.003</minDepth>
    <sensor name="LFsrRR" type="contact">
      <always_on>1</always_on>
      <update_rate>20</update_rate>
      <visualize>false</visualize>
      <contact>
        <collision>LFsrRR_frame_collision</collision>
      </contact>
      <plugin filename="libgazebo_ros_bumper.so" name="gazebo_nao_ros_bumper">
        <robotNamespace>nao_robot</robotNamespace>
        <alwaysOn>true</alwaysOn>
        <bumperTopicName>FSR/LFoot/RearRight</bumperTopicName>
        <frameName>LFsrRR_frame</frameName>
      </plugin>
    </sensor>
  </gazebo>
  <!--
    Sonars
-->
  <gazebo reference="LSonar_frame">
    <sensor name="LSonar" type="ray">
      <pose>0 0 0 0 0 0</pose>
      <update_rate>20</update_rate>
      <visualize>false</visualize>
      <ray>
        <scan>
          <horizontal>
            <samples>5</samples>
            <resolution>1</resolution>
            <min_angle>-0.2617993877991494</min_angle>
            <max_angle>0.2617993877991494</max_angle>
            <!--
          <min_angle>-0.10</min_angle>
          <max_angle>0.10</max_angle> 
-->
          </horizontal>
          <vertical>
            <samples>5</samples>
            <resolution>1</resolution>
            <min_angle>-0.13</min_angle>
            <max_angle>0.13</max_angle>
            <!--
          <min_angle>-0.2617993877991494</min_angle>
          <max_angle>0.2617993877991494</max_angle> 
-->
          </vertical>
        </scan>
        <range>
          <min>0.025</min>
          <max>2.55</max>
          <resolution>1</resolution>
        </range>
      </ray>
      <plugin filename="libgazebo_ros_range.so" name="gazebo_ros_range">
        <robotNamespace>nao_robot</robotNamespace>
        <gaussianNoise>0.05</gaussianNoise>
        <alwaysOn>true</alwaysOn>
        <updateRate>20</updateRate>
        <topicName>sonar_left</topicName>
        <frameName>LSonar_frame</frameName>
        <minRange>0.025</minRange>
        <maxRange>2.55</maxRange>
        <fov>0.5235987755982988</fov>
        <!--      <fov>0.1</fov> -->
        <radiation>ultrasound</radiation>
      </plugin>
    </sensor>
  </gazebo>
  <gazebo reference="RSonar_frame">
    <sensor name="RSonar" type="ray">
      <pose>0 0 0 0 0 0</pose>
      <update_rate>20</update_rate>
      <visualize>false</visualize>
      <ray>
        <scan>
          <horizontal>
            <samples>5</samples>
            <resolution>1</resolution>
            <min_angle>-0.2617993877991494</min_angle>
            <max_angle>0.2617993877991494</max_angle>
          </horizontal>
          <vertical>
            <samples>5</samples>
            <resolution>1</resolution>
            <min_angle>-0.13</min_angle>
            <max_angle>0.13</max_angle>
          </vertical>
        </scan>
        <range>
          <min>0.025</min>
          <max>2.55</max>
          <resolution>1</resolution>
        </range>
      </ray>
      <plugin filename="libgazebo_ros_range.so" name="gazebo_ros_range">
        <robotNamespace>nao_robot</robotNamespace>
        <gaussianNoise>0.05</gaussianNoise>
        <alwaysOn>true</alwaysOn>
        <updateRate>20</updateRate>
        <topicName>sonar_right</topicName>
        <frameName>RSonar_frame</frameName>
        <minRange>0.025</minRange>
        <maxRange>2.55</maxRange>
        <fov>0.5235987755982988</fov>
        <radiation>ultrasound</radiation>
      </plugin>
    </sensor>
  </gazebo>
  <!-- HEAD -->
  <transmission name="HeadYaw_Transmission">
    <type>transmission_interface/SimpleTransmission</type>
    <joint name="HeadYaw">
      <hardwareInterface>PositionJointInterface</hardwareInterface>
    </joint>
    <actuator name="HeadYaw_Motor">
      <!-- Dummy Values -->
      <hardwareInterface>PositionJointInterface</hardwareInterface>
      <mechanicalReduction>150.27</mechanicalReduction>
    </actuator>
  </transmission>
  <transmission name="HeadPitch_Transmission">
    <type>transmission_interface/SimpleTransmission</type>
    <joint name="HeadPitch">
      <hardwareInterface>PositionJointInterface</hardwareInterface>
    </joint>
    <actuator name="HeadPitch_Motor">
      <!-- Dummy Values -->
      <hardwareInterface>PositionJointInterface</hardwareInterface>
      <mechanicalReduction>173.22</mechanicalReduction>
    </actuator>
  </transmission>
  <transmission name="LShoulderPitch_Transmission">
    <type>transmission_interface/SimpleTransmission</type>
    <joint name="LShoulderPitch">
      <hardwareInterface>PositionJointInterface</hardwareInterface>
    </joint>
    <actuator name="LShoulderPitch_Motor">
      <hardwareInterface>PositionJointInterface</hardwareInterface>
      <mechanicalReduction>150.27</mechanicalReduction>
    </actuator>
  </transmission>
  <transmission name="LShoulderRoll_Transmission">
    <type>transmission_interface/SimpleTransmission</type>
    <joint name="LShoulderRoll">
      <hardwareInterface>PositionJointInterface</hardwareInterface>
    </joint>
    <actuator name="LShoulderRoll_Motor">
      <hardwareInterface>PositionJointInterface</hardwareInterface>
      <mechanicalReduction>173.22</mechanicalReduction>
    </actuator>
  </transmission>
  <transmission name="LElbowYaw_Transmission">
    <type>transmission_interface/SimpleTransmission</type>
    <joint name="LElbowYaw">
      <hardwareInterface>PositionJointInterface</hardwareInterface>
    </joint>
    <actuator name="LElbowYaw_Motor">
      <hardwareInterface>PositionJointInterface</hardwareInterface>
      <mechanicalReduction>150.27</mechanicalReduction>
    </actuator>
  </transmission>
  <transmission name="LElbowRoll_Transmission">
    <type>transmission_interface/SimpleTransmission</type>
    <joint name="LElbowRoll">
      <hardwareInterface>PositionJointInterface</hardwareInterface>
    </joint>
    <actuator name="LElbowRoll_Motor">
      <hardwareInterface>PositionJointInterface</hardwareInterface>
      <mechanicalReduction>173.22</mechanicalReduction>
    </actuator>
  </transmission>
  <transmission name="LWristYaw_Transmission">
    <type>transmission_interface/SimpleTransmission</type>
    <joint name="LWristYaw">
      <hardwareInterface>PositionJointInterface</hardwareInterface>
    </joint>
    <actuator name="LWristYaw_Motor">
      <hardwareInterface>PositionJointInterface</hardwareInterface>
      <mechanicalReduction>50.61</mechanicalReduction>
    </actuator>
  </transmission>
  <transmission name="LHand_Transmission">
    <type>transmission_interface/SimpleTransmission</type>
    <joint name="LHand">
      <hardwareInterface>PositionJointInterface</hardwareInterface>
    </joint>
    <actuator name="LHand_Motor">
      <hardwareInterface>PositionJointInterface</hardwareInterface>
      <mechanicalReduction>36.24</mechanicalReduction>
    </actuator>
  </transmission>
  <transmission name="RShoulderPitch_Transmission">
    <type>transmission_interface/SimpleTransmission</type>
    <joint name="RShoulderPitch">
      <hardwareInterface>PositionJointInterface</hardwareInterface>
    </joint>
    <actuator name="RShoulderPitch_Motor">
      <hardwareInterface>PositionJointInterface</hardwareInterface>
      <mechanicalReduction>150.27</mechanicalReduction>
    </actuator>
  </transmission>
  <transmission name="RShoulderRoll_Transmission">
    <type>transmission_interface/SimpleTransmission</type>
    <joint name="RShoulderRoll">
      <hardwareInterface>PositionJointInterface</hardwareInterface>
    </joint>
    <actuator name="RShoulderRoll_Motor">
      <hardwareInterface>PositionJointInterface</hardwareInterface>
      <mechanicalReduction>173.22</mechanicalReduction>
    </actuator>
  </transmission>
  <transmission name="RElbowYaw_Transmission">
    <type>transmission_interface/SimpleTransmission</type>
    <joint name="RElbowYaw">
      <hardwareInterface>PositionJointInterface</hardwareInterface>
    </joint>
    <actuator name="RElbowYaw_Motor">
      <hardwareInterface>PositionJointInterface</hardwareInterface>
      <mechanicalReduction>150.27</mechanicalReduction>
    </actuator>
  </transmission>
  <transmission name="RElbowRoll_Transmission">
    <type>transmission_interface/SimpleTransmission</type>
    <joint name="RElbowRoll">
      <hardwareInterface>PositionJointInterface</hardwareInterface>
    </joint>
    <actuator name="RElbowRoll_Motor">
      <hardwareInterface>PositionJointInterface</hardwareInterface>
      <mechanicalReduction>173.22</mechanicalReduction>
    </actuator>
  </transmission>
  <transmission name="RWristYaw_Transmission">
    <type>transmission_interface/SimpleTransmission</type>
    <joint name="RWristYaw">
      <hardwareInterface>PositionJointInterface</hardwareInterface>
    </joint>
    <actuator name="RWristYaw_Motor">
      <hardwareInterface>PositionJointInterface</hardwareInterface>
      <mechanicalReduction>50.61</mechanicalReduction>
    </actuator>
  </transmission>
  <transmission name="RHand_Transmission">
    <type>transmission_interface/SimpleTransmission</type>
    <joint name="RHand">
      <hardwareInterface>PositionJointInterface</hardwareInterface>
    </joint>
    <actuator name="RHand_Motor">
      <hardwareInterface>PositionJointInterface</hardwareInterface>
      <mechanicalReduction>36.24</mechanicalReduction>
    </actuator>
  </transmission>
  <transmission name="LHipYawPitch_Transmission">
    <type>transmission_interface/SimpleTransmission</type>
    <joint name="LHipYawPitch">
      <hardwareInterface>PositionJointInterface</hardwareInterface>
    </joint>
    <actuator name="LHipYawPitch_Motor">
      <!-- Dummy Values -->
      <hardwareInterface>PositionJointInterface</hardwareInterface>
      <mechanicalReduction>201.3</mechanicalReduction>
    </actuator>
  </transmission>
  <transmission name="LHipRoll_Transmission">
    <type>transmission_interface/SimpleTransmission</type>
    <joint name="LHipRoll">
      <hardwareInterface>PositionJointInterface</hardwareInterface>
    </joint>
    <actuator name="LHipRoll_Motor">
      <!-- Dummy Values -->
      <hardwareInterface>PositionJointInterface</hardwareInterface>
      <mechanicalReduction>201.3</mechanicalReduction>
    </actuator>
  </transmission>
  <transmission name="LHipPitch_Transmission">
    <type>transmission_interface/SimpleTransmission</type>
    <joint name="LHipPitch">
      <hardwareInterface>PositionJointInterface</hardwareInterface>
    </joint>
    <actuator name="LHipPitch_Motor">
      <!-- Dummy Values -->
      <hardwareInterface>PositionJointInterface</hardwareInterface>
      <mechanicalReduction>130.85</mechanicalReduction>
    </actuator>
  </transmission>
  <transmission name="LKneePitch_Transmission">
    <type>transmission_interface/SimpleTransmission</type>
    <joint name="LKneePitch">
      <hardwareInterface>PositionJointInterface</hardwareInterface>
    </joint>
    <actuator name="LKneePitch_Motor">
      <!-- Dummy Values -->
      <hardwareInterface>PositionJointInterface</hardwareInterface>
      <mechanicalReduction>130.85</mechanicalReduction>
    </actuator>
  </transmission>
  <transmission name="LAnklePitch_Transmission">
    <type>transmission_interface/SimpleTransmission</type>
    <joint name="LAnklePitch">
      <hardwareInterface>PositionJointInterface</hardwareInterface>
    </joint>
    <actuator name="LAnklePitch_Motor">
      <!-- Dummy Values -->
      <hardwareInterface>PositionJointInterface</hardwareInterface>
      <mechanicalReduction>130.85</mechanicalReduction>
    </actuator>
  </transmission>
  <transmission name="LAnkleRoll_Transmission">
    <type>transmission_interface/SimpleTransmission</type>
    <joint name="LAnkleRoll">
      <hardwareInterface>PositionJointInterface</hardwareInterface>
    </joint>
    <actuator name="LAnkleRoll_Motor">
      <!-- Dummy Values -->
      <hardwareInterface>PositionJointInterface</hardwareInterface>
      <mechanicalReduction>201.3</mechanicalReduction>
    </actuator>
  </transmission>
  <transmission name="RHipYawPitch_Transmission">
    <type>transmission_interface/SimpleTransmission</type>
    <joint name="RHipYawPitch">
      <hardwareInterface>PositionJointInterface</hardwareInterface>
    </joint>
    <actuator name="RHipYawPitch_Motor">
      <!-- Dummy Values -->
      <hardwareInterface>PositionJointInterface</hardwareInterface>
      <mechanicalReduction>201.3</mechanicalReduction>
    </actuator>
  </transmission>
  <transmission name="RHipRoll_Transmission">
    <type>transmission_interface/SimpleTransmission</type>
    <joint name="RHipRoll">
      <hardwareInterface>PositionJointInterface</hardwareInterface>
    </joint>
    <actuator name="RHipRoll_Motor">
      <!-- Dummy Values -->
      <hardwareInterface>PositionJointInterface</hardwareInterface>
      <mechanicalReduction>201.3</mechanicalReduction>
    </actuator>
  </transmission>
  <transmission name="RHipPitch_Transmission">
    <type>transmission_interface/SimpleTransmission</type>
    <joint name="RHipPitch">
      <hardwareInterface>PositionJointInterface</hardwareInterface>
    </joint>
    <actuator name="RHipPitch_Motor">
      <!-- Dummy Values -->
      <hardwareInterface>PositionJointInterface</hardwareInterface>
      <mechanicalReduction>130.85</mechanicalReduction>
    </actuator>
  </transmission>
  <transmission name="RKneePitch_Transmission">
    <type>transmission_interface/SimpleTransmission</type>
    <joint name="RKneePitch">
      <hardwareInterface>PositionJointInterface</hardwareInterface>
    </joint>
    <actuator name="RKneePitch_Motor">
      <!-- Dummy Values -->
      <hardwareInterface>PositionJointInterface</hardwareInterface>
      <mechanicalReduction>130.85</mechanicalReduction>
    </actuator>
  </transmission>
  <transmission name="RAnklePitch_Transmission">
    <type>transmission_interface/SimpleTransmission</type>
    <joint name="RAnklePitch">
      <hardwareInterface>PositionJointInterface</hardwareInterface>
    </joint>
    <actuator name="RAnklePitch_Motor">
      <!-- Dummy Values -->
      <hardwareInterface>PositionJointInterface</hardwareInterface>
      <mechanicalReduction>130.85</mechanicalReduction>
    </actuator>
  </transmission>
  <transmission name="RAnkleRoll_Transmission">
    <type>transmission_interface/SimpleTransmission</type>
    <joint name="RAnkleRoll">
      <hardwareInterface>PositionJointInterface</hardwareInterface>
    </joint>
    <actuator name="RAnkleRoll_Motor">
      <!-- Dummy Values -->
      <hardwareInterface>PositionJointInterface</hardwareInterface>
      <mechanicalReduction>201.3</mechanicalReduction>
    </actuator>
  </transmission>
</robot>
